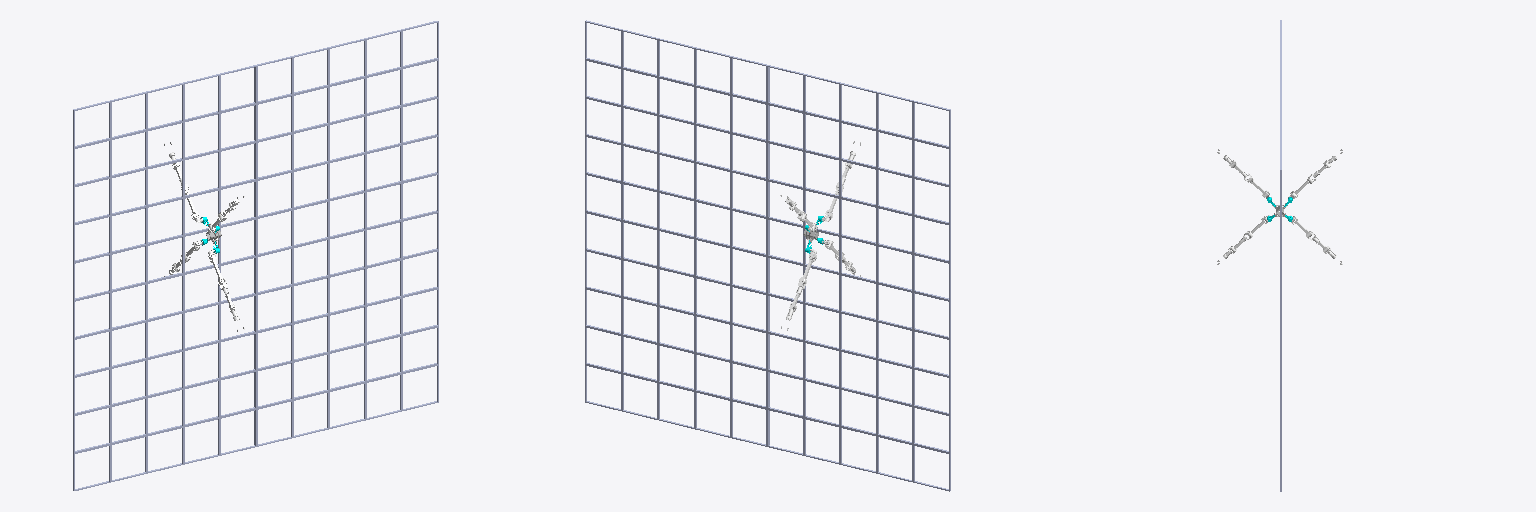
--- Facts derived from the render (not from the file) ---
3 views of the same robot in one strip: view 1: azimuth 30°, elevation 25°; view 2: azimuth 150°, elevation 25°; view 3: azimuth 270°, elevation 25° (orthographic).
Model robot_description with 89 links and 88 joints (56 revolute, 1 prismatic, 31 fixed), rooted at world, posed every joint at zero.
Visible links, largest first — view 1: truss_link; view 2: truss_link; view 3: truss_link.
Boxes of the visible links, left/top/right/bottom form: truss_link: left=73, top=21, right=438, bottom=490; truss_link: left=585, top=20, right=950, bottom=491; truss_link: left=1280, top=20, right=1281, bottom=491.
Size in the robot's own frame: 5.3 by 1.88 by 5.3 metres.
35 mesh visuals loaded from 16 distinct referenced files (11 binary STL); not drawn: 36 (reference not matched to a file when rendering).

The robot description file, URDF, robot "robot_description":
<?xml version="1.0" ?>
<!-- =================================================================================== -->
<!-- |    This document was autogenerated by xacro from robot_description.xacro        | -->
<!-- |    EDITING THIS FILE BY HAND IS NOT RECOMMENDED                                 | -->
<!-- =================================================================================== -->
<!-- This URDF was automatically created by SolidWorks to URDF Exporter! Originally created by Stephen Brawner ([email redacted]) 
     Commit Version: 1.6.0-1-g15f4949  Build Version: 1.6.7594.29634
     For more information, please see http://wiki.ros.org/sw_urdf_exporter -->
<robot name="robot_description">
    <!--body*********************************************************************************************************-->
    <link name="world" />
    <joint name="world_joint" type="fixed">
        <parent link="world" />
        <child link="base_link" />
        <origin rpy="0 1.5708 0" xyz="0 0 0.45" />
    </joint>
    <link name="base_link">
        <inertial>
            <origin rpy="0 0 0" xyz="0 0 0.042" />
            <mass value="1.492" />
            <inertia ixx="0.004886486" ixy="-0.000017397" ixz="-0.000263075" iyy="0.004100237" iyz="0" izz="0.003937989" />
        </inertial>
        <visual>
            <origin rpy="0 0 0" xyz="0 0 0" />
            <geometry>
                <mesh filename="package://robot_description/meshes/base_link.STL" />
            </geometry>
            <material name="">
                <color rgba="0.75294 0.75294 0.75294 1" />
            </material>
        </visual>
        <collision>
            <origin rpy="0 0 0" xyz="0 0 0" />
            <geometry>
                <mesh filename="package://robot_description/meshes/base_link.STL" />
            </geometry>
            <surface>
                <friction>
                    <torsional>
                        <coefficient>5.0</coefficient>
                        <surface_radius>0.10</surface_radius>
                        <use_patch_radius>false</use_patch_radius>
                    </torsional>
                </friction>
            </surface>
        </collision>
    </link>
    <joint name="world_to_truss_link" type="fixed">
        <parent link="world" />
        <child link="truss_link" />
        <origin rpy="1.5708 0 3.1415" xyz="0.6625 0 0" />
    </joint>
    <link name="truss_link">
        <inertial>
            <origin rpy="0 0 0" xyz="0.36747875296263 -0.0267703008644749 2.17639122268576E-06" />
            <mass value="21.7746312239973" />
            <inertia ixx="6.13854571738268" ixy="0.0126716758688149" ixz="-0.000126373819517297" iyy="16.7375552194284" iyz="-1.43555608026521E-06" izz="10.6624119014708" />
        </inertial>
        <visual>
            <origin rpy="0 0 0" xyz="0 0 0" />
            <geometry>
                <mesh filename="package://robot_description/meshes/truss_link.STL" />
            </geometry>
            <material name="">
                <color rgba="0.792156862745098 0.819607843137255 0.933333333333333 1" />
            </material>
        </visual>
        <collision>
            <origin rpy="0 0 0" xyz="0 0 0" />
            <geometry>
                <mesh filename="package://robot_description/meshes/truss_link.STL" />
            </geometry>
        </collision>
    </link>
    <link name="dummy_point1" />
    <joint name="truss_link_to_point1" type="fixed">
        <parent link="truss_link" />
        <child link="dummy_point1" />
        <origin rpy="1.5708 0 0" xyz="0.795 0 0.53" />
    </joint>
    <link name="dummy_point2" />
    <joint name="truss_link_to_point2" type="fixed">
        <parent link="truss_link" />
        <child link="dummy_point2" />
        <origin rpy="1.5708 0 0" xyz="0.795 0 -0.53" />
    </joint>
    <link name="dummy_point3" />
    <joint name="truss_link_to_point3" type="fixed">
        <parent link="truss_link" />
        <child link="dummy_point3" />
        <origin rpy="1.5708 0.707 0" xyz="0.08 0.18 0.40" />
    </joint>
    <link name="dummy_point4" />
    <joint name="truss_link_to_point4" type="fixed">
        <parent link="truss_link" />
        <child link="dummy_point4" />
        <origin rpy="0 0 0" xyz="0 0.215 -0.3" />
    </joint>
    <link name="object" />
    <joint name="truss_link_to_obj" type="fixed">
        <parent link="truss_link" />
        <child link="object" />
        <origin rpy="1.5708 0.707 0" xyz="0.08 0.03 0.40" />
    </joint>
    <link name="object1" />
    <joint name="truss_link_to_obj1" type="fixed">
        <parent link="truss_link" />
        <child link="object1" />
        <origin rpy="0 3.1416 0" xyz="-0.1 0.215 0.085" />
    </joint>
    <link name="object2" />
    <joint name="truss_link_to_obj2" type="fixed">
        <parent link="truss_link" />
        <child link="object2" />
        <origin rpy="0 0 -1.5708" xyz="-0.265 0.215 -0.35" />
    </joint>
    <link name="cube_l" />
    <joint name="truss_link_to_cube_l" type="fixed">
        <parent link="truss_link" />
        <child link="cube_l" />
        <origin rpy="0 3.1416 0" xyz="-0.1175 0.12 0.2325" />
    </joint>
    <link name="cube_r" />
    <joint name="truss_link_to_cube_r" type="fixed">
        <parent link="truss_link" />
        <child link="cube_r" />
        <origin rpy="0 0 0" xyz="-0.1175 0.12 -0.2325" />
    </joint>
    <link name="Link_platform">
        <inertial>
            <origin rpy="0 0 0" xyz="0 0 0.011605" />
            <mass value="0.218" />
            <inertia ixx="0.000745872" ixy="0" ixz="0" iyy="0.000792081" iyz="0" izz="0.001494320" />
        </inertial>
        <visual>
            <origin rpy="0 0 0" xyz="0 0 0" />
            <geometry>
                <mesh filename="package://robot_description/meshes/Link_platform.STL" />
            </geometry>
            <material name="">
                <color rgba="0.75294 0.75294 0.75294 1" />
            </material>
        </visual>
        <collision>
            <origin rpy="0 0 0" xyz="0 0 0" />
            <geometry>
                <mesh filename="package://robot_description/meshes/Link_platform.STL" />
            </geometry>
        </collision>
    </link>
    <joint name="Joint_platform" type="prismatic">
        <origin rpy="0 0 0" xyz="0 0 0.043397" />
        <parent link="base_link" />
        <child link="Link_platform" />
        <axis xyz="0 0 1" />
        <dynamics damping="0.1" friction="0.8" />
        <limit effort="1000" lower="0" upper="0.5" velocity="10" />
    </joint>
    <link name="Link1_0">
        <inertial>
            <origin rpy="0 0 0" xyz="0.085427 -0.025518 0" />
            <mass value="0.960" />
            <inertia ixx="0.000648473" ixy="-0.001018876" ixz="0.000012959" iyy="0.002674366" iyz="0" izz="0.003031056" />
        </inertial>
        <visual>
            <origin rpy="0 0 0" xyz="0 0 0" />
            <geometry>
                <mesh filename="package://robot_description/meshes/Link_0.STL" />
            </geometry>
            <material name="">
                <color rgba="0 1 1 1" />
            </material>
        </visual>
        <collision>
            <origin rpy="0 0 0" xyz="0 0 0" />
            <geometry>
                <mesh filename="package://robot_description/meshes/Link_0.STL" />
            </geometry>
        </collision>
    </link>
    <joint name="Joint1_0" type="revolute">
        <origin rpy="1.5707963267948966 0 0.7853981633974483" xyz="0.072125 0.072125 0.018" />
        <parent link="base_link" />
        <child link="Link1_0" />
        <axis xyz="0 0 1" />
        <dynamics damping="0.1" friction="0.8" />
        <limit effort="1000" lower="0" upper="1.5707963267948966" velocity="10" />
    </joint>
    <link name="Link1_1">
        <inertial>
            <origin rpy="0 0 0" xyz="0.052469 -0.009040 0.002060" />
            <mass value="0.914" />
            <inertia ixx="0.000671687" ixy="-0.000084224" ixz="-0.000107815" iyy="0.000786758" iyz="0.000017298" izz="0.000958254" />
        </inertial>
        <visual>
            <origin rpy="0 0 0" xyz="0 0 0" />
            <geometry>
                <mesh filename="package://robot_description/meshes/Link_1.STL" />
            </geometry>
            <material name="">
                <color rgba="1 1 1 1" />
            </material>
        </visual>
        <collision>
            <origin rpy="0 0 0" xyz="0 0 0" />
            <geometry>
                <mesh filename="package://robot_description/meshes/Link_1.STL" />
            </geometry>
        </collision>
    </link>
    <joint name="Joint1_1" type="revolute">
        <origin rpy="-1.5707963267948966 0 0" xyz="0.12 -0.117 0" />
        <parent link="Link1_0" />
        <child link="Link1_1" />
        <axis xyz="0 0 1" />
        <dynamics damping="0.1" friction="0.8" />
        <limit effort="300" lower="-2.356194490192345" upper="4.71238898038469" velocity="10" />
    </joint>
    <link name="Link1_2">
        <inertial>
            <origin rpy="0 0 0" xyz="0.273270 0.000006 0.007530" />
            <mass value="1.144" />
            <inertia ixx="0.000909959" ixy="0" ixz="0.000569994" iyy="0.018834040" iyz="0" izz="0.018336908" />
        </inertial>
        <visual>
            <origin rpy="0 0 0" xyz="0 0 0" />
            <geometry>
                <mesh filename="package://robot_description/meshes/Link_2.STL" />
            </geometry>
            <material name="">
                <color rgba="1 1 1 1" />
            </material>
        </visual>
        <collision>
            <origin rpy="0 0 0" xyz="0 0 0" />
            <geometry>
                <mesh filename="package://robot_description/meshes/Link_2.STL" />
            </geometry>
        </collision>
    </link>
    <joint name="Joint1_2" type="revolute">
        <origin rpy="1.5707963267948966 0 0" xyz="0.0625 -0.0025 0" />
        <parent link="Link1_1" />
        <child link="Link1_2" />
        <axis xyz="0 0 1" />
        <dynamics damping="0.1" friction="0.8" />
        <limit effort="300" lower="-2.0943951023931953" upper="1.5707963267948966" velocity="10" />
    </joint>
    <link name="Link1_3">
        <inertial>
            <origin rpy="0 0 0" xyz="0.081336 -0.0003 -0.000693" />
            <mass value="0.395" />
            <inertia ixx="0.000576423" ixy="0" ixz="0.000031283" iyy="0.001662107" iyz="0" izz="0.001334389" />
        </inertial>
        <visual>
            <origin rpy="0 0 0" xyz="0 0 0" />
            <geometry>
                <mesh filename="package://robot_description/meshes/Link_3.STL" />
            </geometry>
            <material name="">
                <color rgba="1 1 1 1" />
            </material>
        </visual>
        <collision>
            <origin rpy="0 0 0" xyz="0 0 0" />
            <geometry>
                <mesh filename="package://robot_description/meshes/Link_3.STL" />
            </geometry>
        </collision>
    </link>
    <joint name="Joint1_3" type="revolute">
        <origin rpy="-3.141592653589793 0 0" xyz="0.35 0.0002 0" />
        <parent link="Link1_2" />
        <child link="Link1_3" />
        <axis xyz="0 0 1" />
        <dynamics damping="0.1" friction="0.8" />
        <limit effort="300" lower="-2.530727415391778" upper="2.530727415391778" velocity="10" />
    </joint>
    <link name="Link1_4">
        <inertial>
            <origin rpy="0 0 0" xyz="0.005438 0.000120 0.134002" />
            <mass value="0.376" />
            <inertia ixx="0.0001484574" ixy="0" ixz="0.000099045" iyy="0.001658464" iyz="-0.000002871" izz="0.000360737" />
        </inertial>
        <visual>
            <origin rpy="0 0 0" xyz="0 0 0" />
            <geometry>
                <mesh filename="package://robot_description/meshes/Link_4.STL" />
            </geometry>
            <material name="">
                <color rgba="1 1 1 1" />
            </material>
        </visual>
        <collision>
            <origin rpy="0 0 0" xyz="0 0 0" />
            <geometry>
                <mesh filename="package://robot_description/meshes/Link_4.STL" />
            </geometry>
        </collision>
    </link>
    <joint name="Joint1_4" type="revolute">
        <origin rpy="0 -1.5707963267948966 -3.141592653589793" xyz="0.1745 0 0" />
        <parent link="Link1_3" />
        <child link="Link1_4" />
        <axis xyz="0 0 1" />
        <dynamics damping="0.1" friction="0.8" />
        <limit effort="100" lower="-3.141592653589793" upper="3.141592653589793" velocity="10" />
    </joint>
    <link name="Link1_5">
        <inertial>
            <origin rpy="0 0 0" xyz="0.058277 0 -0.001068" />
            <mass value="0.327" />
            <inertia ixx="0.000412080" ixy="0" ixz="0.000002889" iyy="0.000943104" iyz="0" izz="0.000708641" />
        </inertial>
        <visual>
            <origin rpy="0 0 0" xyz="0 0 0" />
            <geometry>
                <mesh filename="package://robot_description/meshes/Link_5.STL" />
            </geometry>
            <material name="">
                <color rgba="1 1 1 1" />
            </material>
        </visual>
        <collision>
            <origin rpy="0 0 0" xyz="0 0 0" />
            <geometry>
                <mesh filename="package://robot_description/meshes/Link_5.STL" />
            </geometry>
        </collision>
    </link>
    <joint name="Joint1_5" type="revolute">
        <origin rpy="3.141592653589793 -1.5707963267948966 0" xyz="0 0 0.1795" />
        <parent link="Link1_4" />
        <child link="Link1_5" />
        <axis xyz="0 0 1" />
        <dynamics damping="0.1" friction="0.8" />
        <limit effort="100" lower="-1.9198621771937623" upper="1.9198621771937623" velocity="10" />
    </joint>
    <link name="Link1_6">
        <inertial>
            <origin rpy="0 0 0" xyz="-0.000076 -0.001467 0.088450" />
            <mass value="0.366" />
            <inertia ixx="0.000945510" ixy="-0.000011196" ixz="0" iyy="0.000811306" iyz="-0.000011704" izz="0.000402389" />
        </inertial>
        <visual>
            <origin rpy="0 0 0" xyz="0 0 0" />
            <geometry>
                <mesh filename="package://robot_description/meshes/Link_6.STL" />
            </geometry>
            <material name="">
                <color rgba="1 1 1 1" />
            </material>
        </visual>
        <collision>
            <origin rpy="0 0 0" xyz="0 0 0" />
            <geometry>
                <mesh filename="package://robot_description/meshes/Link_6.STL" />
            </geometry>
        </collision>
    </link>
    <joint name="Joint1_6" type="revolute">
        <origin rpy="3.141592653589793 -1.5707963267948966 0" xyz="0.141 0 0" />
        <parent link="Link1_5" />
        <child link="Link1_6" />
        <axis xyz="0 0 1" />
        <dynamics damping="0.1" friction="0.8" />
        <limit effort="100" lower="-3.141592653589793" upper="3.141592653589793" velocity="10" />
    </joint>
    <joint name="Joint1_hand" type="fixed">
        <parent link="Link1_6" />
        <child link="Link1_robotiq_arg2f_base_link" />
        <origin rpy="0 0 0" xyz="0 0 0.0385" />
    </joint>
    <transmission name="Link1_finger_joint_trans">
        <type>transmission_interface/SimpleTransmission</type>
        <joint name="Link1_finger_joint">
            <hardwareInterface>hardware_interface/EffortJointInterface</hardwareInterface>
        </joint>
        <actuator name="Link1_finger_joint_motor">
            <mechanicalReduction>1</mechanicalReduction>
            <hardwareInterface>hardware_interface/EffortJointInterface</hardwareInterface>
        </actuator>
    </transmission>
    <!-- base link -->
    <link name="Link1_robotiq_arg2f_base_link">
        <inertial>
            <origin rpy="0 0 0" xyz="8.625E-08 -4.6583E-06 0.03145" />
            <mass value="0.22652" />
            <inertia ixx="0.00020005" ixy="-4.2442E-10" ixz="-2.9069E-10" iyy="0.00017832" iyz="-3.4402E-08" izz="0.00013478" />
        </inertial>
        <visual>
            <origin rpy="0 0 0" xyz="0 0 0" />
            <geometry>
                <mesh filename="package://robotiq_2f_85_gripper_visualization/meshes/visual/robotiq_arg2f_base_link.stl" />
            </geometry>
            <material name="">
                <color rgba="0.1 0.1 0.1 1" />
            </material>
        </visual>
        <collision>
            <origin rpy="0 0 0" xyz="0 0 0" />
            <!-- <geometry><sphere radius="0.04" /></geometry> -->
            <geometry>
                <mesh filename="package://robotiq_2f_85_gripper_visualization/meshes/collision/robotiq_arg2f_base_link.stl" />
            </geometry>
            <surface>
                <friction>
                    <torsional>
                        <coefficient>5.0</coefficient>
                        <surface_radius>0.01</surface_radius>
                        <use_patch_radius>false</use_patch_radius>
                    </torsional>
                </friction>
            </surface>
        </collision>
    </link>
    <link name="Link1_left_outer_knuckle">
        <inertial>
            <origin rpy="0 0 0" xyz="-0.000200000000003065 0.0199435877845359 0.0292245259211331" />
            <mass value="0.00853198276973456" />
            <inertia ixx="2.89328108496468E-06" ixy="-1.57935047237397E-19" ixz="-1.93980378593255E-19" iyy="1.86719750325683E-06" iyz="-1.21858577871576E-06" izz="1.21905238907251E-06" />
        </inertial>
        <visual>
            <origin rpy="0 0 0" xyz="0 0 0" />
            <geometry>
                <mesh filename="package://robotiq_2f_85_gripper_visualization/meshes/visual/robotiq_arg2f_85_outer_knuckle.dae" scale="0.001 0.001 0.001" />
            </geometry>
            <material name="">
                <color rgba="0.792156862745098 0.819607843137255 0.933333333333333 1" />
            </material>
        </visual>
        <collision>
            <origin rpy="0 0 0" xyz="0 0 0" />
            <geometry>
                <mesh filename="package://robotiq_2f_85_gripper_visualization/meshes/collision/robotiq_arg2f_85_outer_knuckle.dae" scale="0.001 0.001 0.001" />
            </geometry>
        </collision>
    </link>
    <link name="Link1_left_outer_finger">
        <inertial>
            <origin rpy="0 0 0" xyz="0.00030115855001899 0.0373907951953854 -0.0208027427000385" />
            <mass value="0.022614240507152" />
            <inertia ixx="1.52518312458174E-05" ixy="9.76583423954399E-10" ixz="-5.43838577022588E-10" iyy="6.17694243867776E-06" iyz="6.78636130740228E-06" izz="1.16494917907219E-05" />
        </inertial>
        <visual>
            <origin rpy="0 0 0" xyz="0 0 0" />
            <geometry>
                <mesh filename="package://robotiq_2f_85_gripper_visualization/meshes/visual/robotiq_arg2f_85_outer_finger.dae" scale="0.001 0.001 0.001" />
            </geometry>
            <material name="">
                <color rgba="0.1 0.1 0.1 1" />
            </material>
        </visual>
        <collision>
            <origin rpy="0 0 0" xyz="0 0 0" />
            <geometry>
                <mesh filename="package://robotiq_2f_85_gripper_visualization/meshes/collision/robotiq_arg2f_85_outer_finger.dae" scale="0.001 0.001 0.001" />
            </geometry>
        </collision>
    </link>
    <link name="Link1_left_inner_finger">
        <inertial>
            <origin rpy="0 0 0" xyz="0.000299999999999317 0.0160078233491243 -0.0136945669206257" />
            <mass value="0.0104003125914103" />
            <inertia ixx="2.71909453810972E-06" ixy="1.35402465472579E-21" ixz="-7.1817349065269E-22" iyy="7.69100314106116E-07" iyz="6.74715432769696E-07" izz="2.30315190420171E-06" />
        </inertial>
        <visual>
            <origin rpy="0 0 0" xyz="0 0 0" />
            <geometry>
                <mesh filename="package://robotiq_2f_85_gripper_visualization/meshes/visual/robotiq_arg2f_85_inner_finger.dae" scale="0.001 0.001 0.001" />
            </geometry>
            <material name="">
                <color rgba="0.1 0.1 0.1 1" />
            </material>
        </visual>
        <collision>
            <origin rpy="0 0 0" xyz="0 0 0" />
            <geometry>
                <mesh filename="package://robotiq_2f_85_gripper_visualization/meshes/collision/robotiq_arg2f_85_inner_finger.dae" scale="0.001 0.001 0.001" />
            </geometry>
        </collision>
    </link>
    <link name="Link1_left_inner_finger_pad">
        <visual>
            <origin rpy="0 0 0" xyz="0 0 0" />
            <geometry>
                <box size="0.022 0.00635 0.0375" />
            </geometry>
            <material name="">
                <color rgba="0.9 0.9 0.9 1" />
            </material>
        </visual>
        <collision>
            <origin rpy="0 0 0" xyz="0 0 0" />
            <geometry>
                <box size="0.022 0.00635 0.0375" />
            </geometry>
            <material name="">
                <color rgba="0.9 0.0 0.0 1" />
            </material>
        </collision>
        <inertial>
            <mass value="0.1" />
            <origin xyz="0 0 0" rpy="0 0 0" />
            <inertia ixx="0.03" iyy="0.03" izz="0.03" ixy="0.0" ixz="0.0" iyz="0.0" />
        </inertial>
    </link>
    <link name="Link1_left_inner_knuckle">
        <inertial>
            <origin rpy="0 0 0" xyz="0.000123011831763771 0.0507850843201817 0.00103968640075166" />
            <mass value="0.0271177346495152" />
            <inertia ixx="2.61910379223783E-05" ixy="-2.43616858946494E-07" ixz="-6.37789906117123E-09" iyy="2.8270243746167E-06" iyz="-5.37200748039765E-07" izz="2.83695868220296E-05" />
        </inertial>
        <visual>
            <origin rpy="0 0 0" xyz="0 0 0" />
            <geometry>
                <mesh filename="package://robotiq_2f_85_gripper_visualization/meshes/visual/robotiq_arg2f_85_inner_knuckle.dae" scale="0.001 0.001 0.001" />
            </geometry>
            <material name="">
                <color rgba="0.1 0.1 0.1 1" />
            </material>
        </visual>
        <collision>
            <origin rpy="0 0 0" xyz="0 0 0" />
            <geometry>
                <mesh filename="package://robotiq_2f_85_gripper_visualization/meshes/collision/robotiq_arg2f_85_inner_knuckle.dae" scale="0.001 0.001 0.001" />
            </geometry>
        </collision>
    </link>
    <joint name="Link1_left_outer_finger_joint" type="fixed">
        <origin rpy="0 0 0" xyz="0 0.0315 -0.0041" />
        <parent link="Link1_left_outer_knuckle" />
        <child link="Link1_left_outer_finger" />
        <axis xyz="1 0 0" />
    </joint>
    <joint name="Link1_left_inner_knuckle_joint" type="revolute">
        <!-- <origin xyz="0 ${reflect * -0.0127} 0.06142" rpy="${pi / 2 + .725} 0 ${(reflect - 1) * pi / 2}" /> -->
        <origin rpy="0 0 3.141592653589793" xyz="0 -0.0127 0.06142" />
        <parent link="Link1_robotiq_arg2f_base_link" />
        <child link="Link1_left_inner_knuckle" />
        <axis xyz="1 0 0" />
        <limit effort="1000" lower="0" upper="0.8757" velocity="0.5" />
        <mimic joint="Link1_finger_joint" multiplier="1" offset="0" />
    </joint>
    <joint name="Link1_left_inner_finger_joint" type="revolute">
        <origin rpy="0 0 0" xyz="0 0.0061 0.0471" />
        <parent link="Link1_left_outer_finger" />
        <child link="Link1_left_inner_finger" />
        <axis xyz="1 0 0" />
        <limit effort="1000" lower="-0.8757" upper="0" velocity="0.5" />
        <mimic joint="Link1_finger_joint" multiplier="-1" offset="0" />
    </joint>
    <joint name="Link1_left_inner_finger_pad_joint" type="fixed">
        <origin rpy="0 0 0" xyz="0 -0.0220203446692936 0.03242" />
        <parent link="Link1_left_inner_finger" />
        <child link="Link1_left_inner_finger_pad" />
        <axis xyz="0 0 1" />
    </joint>
    <joint name="Link1_finger_joint" type="revolute">
        <origin rpy="0 0 3.141592653589793" xyz="0 -0.0306011 0.054904" />
        <parent link="Link1_robotiq_arg2f_base_link" />
        <child link="Link1_left_outer_knuckle" />
        <axis xyz="1 0 0" />
        <limit effort="1000" lower="0" upper="0.8" velocity="0.5" />
    </joint>
    <joint name="Link1_right_outer_finger_joint" type="fixed">
        <origin rpy="0 0 0" xyz="0 0.0315 -0.0041" />
        <parent link="Link1_right_outer_knuckle" />
        <child link="Link1_right_outer_finger" />
        <axis xyz="1 0 0" />
    </joint>
    <joint name="Link1_right_inner_knuckle_joint" type="revolute">
        <!-- <origin xyz="0 ${reflect * -0.0127} 0.06142" rpy="${pi / 2 + .725} 0 ${(reflect - 1) * pi / 2}" /> -->
        <origin rpy="0 0 0.0" xyz="0 0.0127 0.06142" />
        <parent link="Link1_robotiq_arg2f_base_link" />
        <child link="Link1_right_inner_knuckle" />
        <axis xyz="1 0 0" />
        <limit effort="1000" lower="0" upper="0.8757" velocity="0.5" />
        <mimic joint="Link1_finger_joint" multiplier="1" offset="0" />
    </joint>
    <joint name="Link1_right_inner_finger_joint" type="revolute">
        <origin rpy="0 0 0" xyz="0 0.0061 0.0471" />
        <parent link="Link1_right_outer_finger" />
        <child link="Link1_right_inner_finger" />
        <axis xyz="1 0 0" />
        <limit effort="1000" lower="-0.8757" upper="0" velocity="0.5" />
        <mimic joint="Link1_finger_joint" multiplier="-1" offset="0" />
    </joint>
    <joint name="Link1_right_inner_finger_pad_joint" type="fixed">
        <origin rpy="0 0 0" xyz="0 -0.0220203446692936 0.03242" />
        <parent link="Link1_right_inner_finger" />
        <child link="Link1_right_inner_finger_pad" />
        <axis xyz="0 0 1" />
    </joint>
    <link name="Link1_right_outer_knuckle">
        <inertial>
            <origin rpy="0 0 0" xyz="-0.000200000000003065 0.0199435877845359 0.0292245259211331" />
            <mass value="0.00853198276973456" />
            <inertia ixx="2.89328108496468E-06" ixy="-1.57935047237397E-19" ixz="-1.93980378593255E-19" iyy="1.86719750325683E-06" iyz="-1.21858577871576E-06" izz="1.21905238907251E-06" />
        </inertial>
        <visual>
            <origin rpy="0 0 0" xyz="0 0 0" />
            <geometry>
                <mesh filename="package://robotiq_2f_85_gripper_visualization/meshes/visual/robotiq_arg2f_85_outer_knuckle.dae" scale="0.001 0.001 0.001" />
            </geometry>
            <material name="">
                <color rgba="0.792156862745098 0.819607843137255 0.933333333333333 1" />
            </material>
        </visual>
        <collision>
            <origin rpy="0 0 0" xyz="0 0 0" />
            <geometry>
                <mesh filename="package://robotiq_2f_85_gripper_visualization/meshes/collision/robotiq_arg2f_85_outer_knuckle.dae" scale="0.001 0.001 0.001" />
            </geometry>
        </collision>
    </link>
    <link name="Link1_right_outer_finger">
        <inertial>
            <origin rpy="0 0 0" xyz="0.00030115855001899 0.0373907951953854 -0.0208027427000385" />
            <mass value="0.022614240507152" />
            <inertia ixx="1.52518312458174E-05" ixy="9.76583423954399E-10" ixz="-5.43838577022588E-10" iyy="6.17694243867776E-06" iyz="6.78636130740228E-06" izz="1.16494917907219E-05" />
        </inertial>
        <visual>
            <origin rpy="0 0 0" xyz="0 0 0" />
            <geometry>
                <mesh filename="package://robotiq_2f_85_gripper_visualization/meshes/visual/robotiq_arg2f_85_outer_finger.dae" scale="0.001 0.001 0.001" />
            </geometry>
            <material name="">
                <color rgba="0.1 0.1 0.1 1" />
            </material>
        </visual>
        <collision>
            <origin rpy="0 0 0" xyz="0 0 0" />
            <geometry>
                <mesh filename="package://robotiq_2f_85_gripper_visualization/meshes/collision/robotiq_arg2f_85_outer_finger.dae" scale="0.001 0.001 0.001" />
            </geometry>
        </collision>
    </link>
    <link name="Link1_right_inner_finger">
        <inertial>
            <origin rpy="0 0 0" xyz="0.000299999999999317 0.0160078233491243 -0.0136945669206257" />
            <mass value="0.0104003125914103" />
            <inertia ixx="2.71909453810972E-06" ixy="1.35402465472579E-21" ixz="-7.1817349065269E-22" iyy="7.69100314106116E-07" iyz="6.74715432769696E-07" izz="2.30315190420171E-06" />
        </inertial>
        <visual>
            <origin rpy="0 0 0" xyz="0 0 0" />
            <geometry>
                <mesh filename="package://robotiq_2f_85_gripper_visualization/meshes/visual/robotiq_arg2f_85_inner_finger.dae" scale="0.001 0.001 0.001" />
            </geometry>
            <material name="">
                <color rgba="0.1 0.1 0.1 1" />
            </material>
        </visual>
        <collision>
            <origin rpy="0 0 0" xyz="0 0 0" />
            <geometry>
                <mesh filename="package://robotiq_2f_85_gripper_visualization/meshes/collision/robotiq_arg2f_85_inner_finger.dae" scale="0.001 0.001 0.001" />
            </geometry>
        </collision>
    </link>
    <link name="Link1_right_inner_finger_pad">
        <visual>
            <origin rpy="0 0 0" xyz="0 0 0" />
            <geometry>
                <box size="0.022 0.00635 0.0375" />
            </geometry>
            <material name="">
                <color rgba="0.9 0.9 0.9 1" />
            </material>
        </visual>
        <collision>
            <origin rpy="0 0 0" xyz="0 0 0" />
            <geometry>
                <box size="0.022 0.00635 0.0375" />
            </geometry>
            <material name="">
                <color rgba="0.9 0.0 0.0 1" />
            </material>
        </collision>
        <inertial>
            <mass value="0.1" />
            <origin xyz="0 0 0" rpy="0 0 0" />
            <inertia ixx="0.03" iyy="0.03" izz="0.03" ixy="0.0" ixz="0.0" iyz="0.0" />
        </inertial>
    </link>
    <link name="Link1_right_inner_knuckle">
        <inertial>
            <origin rpy="0 0 0" xyz="0.000123011831763771 0.0507850843201817 0.00103968640075166" />
            <mass value="0.0271177346495152" />
            <inertia ixx="2.61910379223783E-05" ixy="-2.43616858946494E-07" ixz="-6.37789906117123E-09" iyy="2.8270243746167E-06" iyz="-5.37200748039765E-07" izz="2.83695868220296E-05" />
        </inertial>
        <visual>
            <origin rpy="0 0 0" xyz="0 0 0" />
            <geometry>
                <mesh filename="package://robotiq_2f_85_gripper_visualization/meshes/visual/robotiq_arg2f_85_inner_knuckle.dae" scale="0.001 0.001 0.001" />
            </geometry>
            <material name="">
                <color rgba="0.1 0.1 0.1 1" />
            </material>
        </visual>
        <collision>
            <origin rpy="0 0 0" xyz="0 0 0" />
            <geometry>
                <mesh filename="package://robotiq_2f_85_gripper_visualization/meshes/collision/robotiq_arg2f_85_inner_knuckle.dae" scale="0.001 0.001 0.001" />
            </geometry>
        </collision>
    </link>
    <joint name="Link1_right_finger_joint" type="revolute">
        <origin rpy="0 0 0" xyz="0 0.0306011 0.054904" />
        <parent link="Link1_robotiq_arg2f_base_link" />
        <child link="Link1_right_outer_knuckle" />
        <axis xyz="1 0 0" />
        <limit effort="1000" lower="0" upper="0.81" velocity="0.5" />
        <mimic joint="Link1_finger_joint" multiplier="1" offset="0" />
    </joint>
    <link name="Link2_0">
        <inertial>
            <origin rpy="0 0 0" xyz="0.085427 -0.025518 0" />
            <mass value="0.960" />
            <inertia ixx="0.000648473" ixy="-0.001018876" ixz="0.000012959" iyy="0.002674366" iyz="0" izz="0.003031056" />
        </inertial>
        <visual>
            <origin rpy="0 0 0" xyz="0 0 0" />
            <geometry>
                <mesh filename="package://robot_description/meshes/Link_0.STL" />
            </geometry>
            <material name="">
                <color rgba="0 1 1 1" />
            </material>
        </visual>
        <collision>
            <origin rpy="0 0 0" xyz="0 0 0" />
            <geometry>
                <mesh filename="package://robot_description/meshes/Link_0.STL" />
            </geometry>
        </collision>
    </link>
    <joint name="Joint2_0" type="revolute">
        <origin rpy="1.5707963267948966 0 2.356194490192345" xyz="-0.072125 0.072125 0.018" />
        <parent link="base_link" />
        <child link="Link2_0" />
        <axis xyz="0 0 1" />
        <dynamics damping="0.1" friction="0.8" />
        <limit effort="1000" lower="0" upper="1.5707963267948966" velocity="10" />
    </joint>
    <link name="Link2_1">
        <inertial>
            <origin rpy="0 0 0" xyz="0.052469 -0.009040 0.002060" />
            <mass value="0.914" />
            <inertia ixx="0.000671687" ixy="-0.000084224" ixz="-0.000107815" iyy="0.000786758" iyz="0.000017298" izz="0.000958254" />
        </inertial>
        <visual>
            <origin rpy="0 0 0" xyz="0 0 0" />
            <geometry>
                <mesh filename="package://robot_description/meshes/Link_1.STL" />
            </geometry>
            <material name="">
                <color rgba="1 1 1 1" />
            </material>
        </visual>
        <collision>
            <origin rpy="0 0 0" xyz="0 0 0" />
            <geometry>
                <mesh filename="package://robot_description/meshes/Link_1.STL" />
            </geometry>
        </collision>
    </link>
    <joint name="Joint2_1" type="revolute">
        <origin rpy="-1.5707963267948966 0 0" xyz="0.12 -0.117 0" />
        <parent link="Link2_0" />
        <child link="Link2_1" />
        <axis xyz="0 0 1" />
        <dynamics damping="0.1" friction="0.8" />
        <limit effort="300" lower="-2.356194490192345" upper="4.71238898038469" velocity="10" />
    </joint>
    <link name="Link2_2">
        <inertial>
            <origin rpy="0 0 0" xyz="0.273270 0.000006 0.007530" />
            <mass value="1.144" />
            <inertia ixx="0.000909959" ixy="0" ixz="0.000569994" iyy="0.018834040" iyz="0" izz="0.018336908" />
        </inertial>
        <visual>
            <origin rpy="0 0 0" xyz="0 0 0" />
            <geometry>
                <mesh filename="package://robot_description/meshes/Link_2.STL" />
            </geometry>
            <material name="">
                <color rgba="1 1 1 1" />
            </material>
        </visual>
        <collision>
            <origin rpy="0 0 0" xyz="0 0 0" />
            <geometry>
                <mesh filename="package://robot_description/meshes/Link_2.STL" />
            </geometry>
        </collision>
    </link>
    <joint name="Joint2_2" type="revolute">
        <origin rpy="1.5707963267948966 0 0" xyz="0.0625 -0.0025 0" />
        <parent link="Link2_1" />
        <child link="Link2_2" />
        <axis xyz="0 0 1" />
        <dynamics damping="0.1" friction="0.8" />
        <limit effort="300" lower="-2.0943951023931953" upper="1.5707963267948966" velocity="10" />
    </joint>
    <link name="Link2_3">
        <inertial>
            <origin rpy="0 0 0" xyz="0.081336 -0.0003 -0.000693" />
            <mass value="0.395" />
            <inertia ixx="0.000576423" ixy="0" ixz="0.000031283" iyy="0.001662107" iyz="0" izz="0.001334389" />
        </inertial>
        <visual>
            <origin rpy="0 0 0" xyz="0 0 0" />
            <geometry>
                <mesh filename="package://robot_description/meshes/Link_3.STL" />
            </geometry>
            <material name="">
                <color rgba="1 1 1 1" />
            </material>
        </visual>
        <collision>
            <origin rpy="0 0 0" xyz="0 0 0" />
            <geometry>
                <mesh filename="package://robot_description/meshes/Link_3.STL" />
            </geometry>
        </collision>
    </link>
    <joint name="Joint2_3" type="revolute">
        <origin rpy="-3.141592653589793 0 0" xyz="0.35 0.0002 0" />
        <parent link="Link2_2" />
        <child link="Link2_3" />
        <axis xyz="0 0 1" />
        <dynamics damping="0.1" friction="0.8" />
        <limit effort="300" lower="-2.530727415391778" upper="2.530727415391778" velocity="10" />
    </joint>
    <link name="Link2_4">
        <inertial>
            <origin rpy="0 0 0" xyz="0.005438 0.000120 0.134002" />
            <mass value="0.376" />
            <inertia ixx="0.0001484574" ixy="0" ixz="0.000099045" iyy="0.001658464" iyz="-0.000002871" izz="0.000360737" />
        </inertial>
        <visual>
            <origin rpy="0 0 0" xyz="0 0 0" />
            <geometry>
                <mesh filename="package://robot_description/meshes/Link_4.STL" />
            </geometry>
            <material name="">
                <color rgba="1 1 1 1" />
            </material>
        </visual>
        <collision>
            <origin rpy="0 0 0" xyz="0 0 0" />
            <geometry>
                <mesh filename="package://robot_description/meshes/Link_4.STL" />
            </geometry>
        </collision>
    </link>
    <joint name="Joint2_4" type="revolute">
        <origin rpy="0 -1.5707963267948966 -3.141592653589793" xyz="0.1745 0 0" />
        <parent link="Link2_3" />
        <child link="Link2_4" />
        <axis xyz="0 0 1" />
        <dynamics damping="0.1" friction="0.8" />
        <limit effort="100" lower="-3.141592653589793" upper="3.141592653589793" velocity="10" />
    </joint>
    <link name="Link2_5">
        <inertial>
            <origin rpy="0 0 0" xyz="0.058277 0 -0.001068" />
            <mass value="0.327" />
            <inertia ixx="0.000412080" ixy="0" ixz="0.000002889" iyy="0.000943104" iyz="0" izz="0.000708641" />
        </inertial>
        <visual>
            <origin rpy="0 0 0" xyz="0 0 0" />
            <geometry>
                <mesh filename="package://robot_description/meshes/Link_5.STL" />
            </geometry>
            <material name="">
                <color rgba="1 1 1 1" />
            </material>
        </visual>
        <collision>
            <origin rpy="0 0 0" xyz="0 0 0" />
            <geometry>
                <mesh filename="package://robot_description/meshes/Link_5.STL" />
            </geometry>
        </collision>
    </link>
    <joint name="Joint2_5" type="revolute">
        <origin rpy="3.141592653589793 -1.5707963267948966 0" xyz="0 0 0.1795" />
        <parent link="Link2_4" />
        <child link="Link2_5" />
        <axis xyz="0 0 1" />
        <dynamics damping="0.1" friction="0.8" />
        <limit effort="100" lower="-1.9198621771937623" upper="1.9198621771937623" velocity="10" />
    </joint>
    <link name="Link2_6">
        <inertial>
            <origin rpy="0 0 0" xyz="-0.000076 -0.001467 0.088450" />
            <mass value="0.366" />
            <inertia ixx="0.000945510" ixy="-0.000011196" ixz="0" iyy="0.000811306" iyz="-0.000011704" izz="0.000402389" />
        </inertial>
        <visual>
            <origin rpy="0 0 0" xyz="0 0 0" />
            <geometry>
                <mesh filename="package://robot_description/meshes/Link_6.STL" />
            </geometry>
            <material name="">
                <color rgba="1 1 1 1" />
            </material>
        </visual>
        <collision>
            <origin rpy="0 0 0" xyz="0 0 0" />
            <geometry>
                <mesh filename="package://robot_description/meshes/Link_6.STL" />
            </geometry>
        </collision>
    </link>
    <joint name="Joint2_6" type="revolute">
        <origin rpy="3.141592653589793 -1.5707963267948966 0" xyz="0.141 0 0" />
        <parent link="Link2_5" />
        <child link="Link2_6" />
        <axis xyz="0 0 1" />
        <dynamics damping="0.1" friction="0.8" />
        <limit effort="100" lower="-3.141592653589793" upper="3.141592653589793" velocity="10" />
    </joint>
    <joint name="Joint2_hand" type="fixed">
        <parent link="Link2_6" />
        <child link="Link2_robotiq_arg2f_base_link" />
        <origin rpy="0 0 0" xyz="0 0 0.0385" />
    </joint>
    <transmission name="Link2_finger_joint_trans">
        <type>transmission_interface/SimpleTransmission</type>
        <joint name="Link2_finger_joint">
            <hardwareInterface>hardware_interface/EffortJointInterface</hardwareInterface>
        </joint>
        <actuator name="Link2_finger_joint_motor">
            <mechanicalReduction>1</mechanicalReduction>
            <hardwareInterface>hardware_interface/EffortJointInterface</hardwareInterface>
        </actuator>
    </transmission>
    <!-- base link -->
    <link name="Link2_robotiq_arg2f_base_link">
        <inertial>
            <origin rpy="0 0 0" xyz="8.625E-08 -4.6583E-06 0.03145" />
            <mass value="0.22652" />
            <inertia ixx="0.00020005" ixy="-4.2442E-10" ixz="-2.9069E-10" iyy="0.00017832" iyz="-3.4402E-08" izz="0.00013478" />
        </inertial>
        <visual>
            <origin rpy="0 0 0" xyz="0 0 0" />
            <geometry>
                <mesh filename="package://robotiq_2f_85_gripper_visualization/meshes/visual/robotiq_arg2f_base_link.stl" />
            </geometry>
            <material name="">
                <color rgba="0.1 0.1 0.1 1" />
            </material>
        </visual>
        <collision>
            <origin rpy="0 0 0" xyz="0 0 0" />
            <!-- <geometry><sphere radius="0.04" /></geometry> -->
            <geometry>
                <mesh filename="package://robotiq_2f_85_gripper_visualization/meshes/collision/robotiq_arg2f_base_link.stl" />
            </geometry>
            <surface>
                <friction>
                    <torsional>
                        <coefficient>5.0</coefficient>
                        <surface_radius>0.01</surface_radius>
                        <use_patch_radius>false</use_patch_radius>
                    </torsional>
                </friction>
            </surface>
        </collision>
    </link>
    <link name="Link2_left_outer_knuckle">
        <inertial>
            <origin rpy="0 0 0" xyz="-0.000200000000003065 0.0199435877845359 0.0292245259211331" />
            <mass value="0.00853198276973456" />
            <inertia ixx="2.89328108496468E-06" ixy="-1.57935047237397E-19" ixz="-1.93980378593255E-19" iyy="1.86719750325683E-06" iyz="-1.21858577871576E-06" izz="1.21905238907251E-06" />
        </inertial>
        <visual>
            <origin rpy="0 0 0" xyz="0 0 0" />
            <geometry>
                <mesh filename="package://robotiq_2f_85_gripper_visualization/meshes/visual/robotiq_arg2f_85_outer_knuckle.dae" scale="0.001 0.001 0.001" />
            </geometry>
            <material name="">
                <color rgba="0.792156862745098 0.819607843137255 0.933333333333333 1" />
            </material>
        </visual>
        <collision>
            <origin rpy="0 0 0" xyz="0 0 0" />
            <geometry>
                <mesh filename="package://robotiq_2f_85_gripper_visualization/meshes/collision/robotiq_arg2f_85_outer_knuckle.dae" scale="0.001 0.001 0.001" />
            </geometry>
        </collision>
    </link>
    <link name="Link2_left_outer_finger">
        <inertial>
            <origin rpy="0 0 0" xyz="0.00030115855001899 0.0373907951953854 -0.0208027427000385" />
            <mass value="0.022614240507152" />
            <inertia ixx="1.52518312458174E-05" ixy="9.76583423954399E-10" ixz="-5.43838577022588E-10" iyy="6.17694243867776E-06" iyz="6.78636130740228E-06" izz="1.16494917907219E-05" />
        </inertial>
        <visual>
            <origin rpy="0 0 0" xyz="0 0 0" />
            <geometry>
                <mesh filename="package://robotiq_2f_85_gripper_visualization/meshes/visual/robotiq_arg2f_85_outer_finger.dae" scale="0.001 0.001 0.001" />
            </geometry>
            <material name="">
                <color rgba="0.1 0.1 0.1 1" />
            </material>
        </visual>
        <collision>
            <origin rpy="0 0 0" xyz="0 0 0" />
            <geometry>
                <mesh filename="package://robotiq_2f_85_gripper_visualization/meshes/collision/robotiq_arg2f_85_outer_finger.dae" scale="0.001 0.001 0.001" />
            </geometry>
        </collision>
    </link>
    <link name="Link2_left_inner_finger">
        <inertial>
            <origin rpy="0 0 0" xyz="0.000299999999999317 0.0160078233491243 -0.0136945669206257" />
            <mass value="0.0104003125914103" />
            <inertia ixx="2.71909453810972E-06" ixy="1.35402465472579E-21" ixz="-7.1817349065269E-22" iyy="7.69100314106116E-07" iyz="6.74715432769696E-07" izz="2.30315190420171E-06" />
        </inertial>
        <visual>
            <origin rpy="0 0 0" xyz="0 0 0" />
            <geometry>
                <mesh filename="package://robotiq_2f_85_gripper_visualization/meshes/visual/robotiq_arg2f_85_inner_finger.dae" scale="0.001 0.001 0.001" />
            </geometry>
            <material name="">
                <color rgba="0.1 0.1 0.1 1" />
            </material>
        </visual>
        <collision>
            <origin rpy="0 0 0" xyz="0 0 0" />
            <geometry>
                <mesh filename="package://robotiq_2f_85_gripper_visualization/meshes/collision/robotiq_arg2f_85_inner_finger.dae" scale="0.001 0.001 0.001" />
            </geometry>
        </collision>
    </link>
    <link name="Link2_left_inner_finger_pad">
        <visual>
            <origin rpy="0 0 0" xyz="0 0 0" />
            <geometry>
                <box size="0.022 0.00635 0.0375" />
            </geometry>
            <material name="">
                <color rgba="0.9 0.9 0.9 1" />
            </material>
        </visual>
        <collision>
            <origin rpy="0 0 0" xyz="0 0 0" />
            <geometry>
                <box size="0.022 0.00635 0.0375" />
            </geometry>
            <material name="">
                <color rgba="0.9 0.0 0.0 1" />
            </material>
        </collision>
        <inertial>
            <mass value="0.1" />
            <origin xyz="0 0 0" rpy="0 0 0" />
            <inertia ixx="0.03" iyy="0.03" izz="0.03" ixy="0.0" ixz="0.0" iyz="0.0" />
        </inertial>
    </link>
    <link name="Link2_left_inner_knuckle">
        <inertial>
            <origin rpy="0 0 0" xyz="0.000123011831763771 0.0507850843201817 0.00103968640075166" />
            <mass value="0.0271177346495152" />
            <inertia ixx="2.61910379223783E-05" ixy="-2.43616858946494E-07" ixz="-6.37789906117123E-09" iyy="2.8270243746167E-06" iyz="-5.37200748039765E-07" izz="2.83695868220296E-05" />
        </inertial>
        <visual>
            <origin rpy="0 0 0" xyz="0 0 0" />
            <geometry>
                <mesh filename="package://robotiq_2f_85_gripper_visualization/meshes/visual/robotiq_arg2f_85_inner_knuckle.dae" scale="0.001 0.001 0.001" />
            </geometry>
            <material name="">
                <color rgba="0.1 0.1 0.1 1" />
            </material>
        </visual>
        <collision>
            <origin rpy="0 0 0" xyz="0 0 0" />
            <geometry>
                <mesh filename="package://robotiq_2f_85_gripper_visualization/meshes/collision/robotiq_arg2f_85_inner_knuckle.dae" scale="0.001 0.001 0.001" />
            </geometry>
        </collision>
    </link>
    <joint name="Link2_left_outer_finger_joint" type="fixed">
        <origin rpy="0 0 0" xyz="0 0.0315 -0.0041" />
        <parent link="Link2_left_outer_knuckle" />
        <child link="Link2_left_outer_finger" />
        <axis xyz="1 0 0" />
    </joint>
    <joint name="Link2_left_inner_knuckle_joint" type="revolute">
        <!-- <origin xyz="0 ${reflect * -0.0127} 0.06142" rpy="${pi / 2 + .725} 0 ${(reflect - 1) * pi / 2}" /> -->
        <origin rpy="0 0 3.141592653589793" xyz="0 -0.0127 0.06142" />
        <parent link="Link2_robotiq_arg2f_base_link" />
        <child link="Link2_left_inner_knuckle" />
        <axis xyz="1 0 0" />
        <limit effort="1000" lower="0" upper="0.8757" velocity="0.5" />
        <mimic joint="Link2_finger_joint" multiplier="1" offset="0" />
    </joint>
    <joint name="Link2_left_inner_finger_joint" type="revolute">
        <origin rpy="0 0 0" xyz="0 0.0061 0.0471" />
        <parent link="Link2_left_outer_finger" />
        <child link="Link2_left_inner_finger" />
        <axis xyz="1 0 0" />
        <limit effort="1000" lower="-0.8757" upper="0" velocity="0.5" />
        <mimic joint="Link2_finger_joint" multiplier="-1" offset="0" />
    </joint>
    <joint name="Link2_left_inner_finger_pad_joint" type="fixed">
        <origin rpy="0 0 0" xyz="0 -0.0220203446692936 0.03242" />
        <parent link="Link2_left_inner_finger" />
        <child link="Link2_left_inner_finger_pad" />
        <axis xyz="0 0 1" />
    </joint>
    <joint name="Link2_finger_joint" type="revolute">
        <origin rpy="0 0 3.141592653589793" xyz="0 -0.0306011 0.054904" />
        <parent link="Link2_robotiq_arg2f_base_link" />
        <child link="Link2_left_outer_knuckle" />
        <axis xyz="1 0 0" />
        <limit effort="1000" lower="0" upper="0.8" velocity="0.5" />
    </joint>
    <joint name="Link2_right_outer_finger_joint" type="fixed">
        <origin rpy="0 0 0" xyz="0 0.0315 -0.0041" />
        <parent link="Link2_right_outer_knuckle" />
        <child link="Link2_right_outer_finger" />
        <axis xyz="1 0 0" />
    </joint>
    <joint name="Link2_right_inner_knuckle_joint" type="revolute">
        <!-- <origin xyz="0 ${reflect * -0.0127} 0.06142" rpy="${pi / 2 + .725} 0 ${(reflect - 1) * pi / 2}" /> -->
        <origin rpy="0 0 0.0" xyz="0 0.0127 0.06142" />
        <parent link="Link2_robotiq_arg2f_base_link" />
        <child link="Link2_right_inner_knuckle" />
        <axis xyz="1 0 0" />
        <limit effort="1000" lower="0" upper="0.8757" velocity="0.5" />
        <mimic joint="Link2_finger_joint" multiplier="1" offset="0" />
    </joint>
    <joint name="Link2_right_inner_finger_joint" type="revolute">
        <origin rpy="0 0 0" xyz="0 0.0061 0.0471" />
        <parent link="Link2_right_outer_finger" />
        <child link="Link2_right_inner_finger" />
        <axis xyz="1 0 0" />
        <limit effort="1000" lower="-0.8757" upper="0" velocity="0.5" />
        <mimic joint="Link2_finger_joint" multiplier="-1" offset="0" />
    </joint>
    <joint name="Link2_right_inner_finger_pad_joint" type="fixed">
        <origin rpy="0 0 0" xyz="0 -0.0220203446692936 0.03242" />
        <parent link="Link2_right_inner_finger" />
        <child link="Link2_right_inner_finger_pad" />
        <axis xyz="0 0 1" />
    </joint>
    <link name="Link2_right_outer_knuckle">
        <inertial>
            <origin rpy="0 0 0" xyz="-0.000200000000003065 0.0199435877845359 0.0292245259211331" />
            <mass value="0.00853198276973456" />
            <inertia ixx="2.89328108496468E-06" ixy="-1.57935047237397E-19" ixz="-1.93980378593255E-19" iyy="1.86719750325683E-06" iyz="-1.21858577871576E-06" izz="1.21905238907251E-06" />
        </inertial>
        <visual>
            <origin rpy="0 0 0" xyz="0 0 0" />
            <geometry>
                <mesh filename="package://robotiq_2f_85_gripper_visualization/meshes/visual/robotiq_arg2f_85_outer_knuckle.dae" scale="0.001 0.001 0.001" />
            </geometry>
            <material name="">
                <color rgba="0.792156862745098 0.819607843137255 0.933333333333333 1" />
            </material>
        </visual>
        <collision>
            <origin rpy="0 0 0" xyz="0 0 0" />
            <geometry>
                <mesh filename="package://robotiq_2f_85_gripper_visualization/meshes/collision/robotiq_arg2f_85_outer_knuckle.dae" scale="0.001 0.001 0.001" />
            </geometry>
        </collision>
    </link>
    <link name="Link2_right_outer_finger">
        <inertial>
            <origin rpy="0 0 0" xyz="0.00030115855001899 0.0373907951953854 -0.0208027427000385" />
            <mass value="0.022614240507152" />
            <inertia ixx="1.52518312458174E-05" ixy="9.76583423954399E-10" ixz="-5.43838577022588E-10" iyy="6.17694243867776E-06" iyz="6.78636130740228E-06" izz="1.16494917907219E-05" />
        </inertial>
        <visual>
            <origin rpy="0 0 0" xyz="0 0 0" />
            <geometry>
                <mesh filename="package://robotiq_2f_85_gripper_visualization/meshes/visual/robotiq_arg2f_85_outer_finger.dae" scale="0.001 0.001 0.001" />
            </geometry>
            <material name="">
                <color rgba="0.1 0.1 0.1 1" />
            </material>
        </visual>
        <collision>
            <origin rpy="0 0 0" xyz="0 0 0" />
            <geometry>
                <mesh filename="package://robotiq_2f_85_gripper_visualization/meshes/collision/robotiq_arg2f_85_outer_finger.dae" scale="0.001 0.001 0.001" />
            </geometry>
        </collision>
    </link>
    <link name="Link2_right_inner_finger">
        <inertial>
            <origin rpy="0 0 0" xyz="0.000299999999999317 0.0160078233491243 -0.0136945669206257" />
            <mass value="0.0104003125914103" />
            <inertia ixx="2.71909453810972E-06" ixy="1.35402465472579E-21" ixz="-7.1817349065269E-22" iyy="7.69100314106116E-07" iyz="6.74715432769696E-07" izz="2.30315190420171E-06" />
        </inertial>
        <visual>
            <origin rpy="0 0 0" xyz="0 0 0" />
            <geometry>
                <mesh filename="package://robotiq_2f_85_gripper_visualization/meshes/visual/robotiq_arg2f_85_inner_finger.dae" scale="0.001 0.001 0.001" />
            </geometry>
            <material name="">
                <color rgba="0.1 0.1 0.1 1" />
            </material>
        </visual>
        <collision>
            <origin rpy="0 0 0" xyz="0 0 0" />
            <geometry>
                <mesh filename="package://robotiq_2f_85_gripper_visualization/meshes/collision/robotiq_arg2f_85_inner_finger.dae" scale="0.001 0.001 0.001" />
            </geometry>
        </collision>
    </link>
    <link name="Link2_right_inner_finger_pad">
        <visual>
            <origin rpy="0 0 0" xyz="0 0 0" />
            <geometry>
                <box size="0.022 0.00635 0.0375" />
            </geometry>
            <material name="">
                <color rgba="0.9 0.9 0.9 1" />
            </material>
        </visual>
        <collision>
            <origin rpy="0 0 0" xyz="0 0 0" />
            <geometry>
                <box size="0.022 0.00635 0.0375" />
            </geometry>
            <material name="">
                <color rgba="0.9 0.0 0.0 1" />
            </material>
        </collision>
        <inertial>
            <mass value="0.1" />
            <origin xyz="0 0 0" rpy="0 0 0" />
            <inertia ixx="0.03" iyy="0.03" izz="0.03" ixy="0.0" ixz="0.0" iyz="0.0" />
        </inertial>
    </link>
    <link name="Link2_right_inner_knuckle">
        <inertial>
            <origin rpy="0 0 0" xyz="0.000123011831763771 0.0507850843201817 0.00103968640075166" />
            <mass value="0.0271177346495152" />
            <inertia ixx="2.61910379223783E-05" ixy="-2.43616858946494E-07" ixz="-6.37789906117123E-09" iyy="2.8270243746167E-06" iyz="-5.37200748039765E-07" izz="2.83695868220296E-05" />
        </inertial>
        <visual>
            <origin rpy="0 0 0" xyz="0 0 0" />
            <geometry>
                <mesh filename="package://robotiq_2f_85_gripper_visualization/meshes/visual/robotiq_arg2f_85_inner_knuckle.dae" scale="0.001 0.001 0.001" />
            </geometry>
            <material name="">
                <color rgba="0.1 0.1 0.1 1" />
            </material>
        </visual>
        <collision>
            <origin rpy="0 0 0" xyz="0 0 0" />
            <geometry>
                <mesh filename="package://robotiq_2f_85_gripper_visualization/meshes/collision/robotiq_arg2f_85_inner_knuckle.dae" scale="0.001 0.001 0.001" />
            </geometry>
        </collision>
    </link>
    <joint name="Link2_right_finger_joint" type="revolute">
        <origin rpy="0 0 0" xyz="0 0.0306011 0.054904" />
        <parent link="Link2_robotiq_arg2f_base_link" />
        <child link="Link2_right_outer_knuckle" />
        <axis xyz="1 0 0" />
        <limit effort="1000" lower="0" upper="0.81" velocity="0.5" />
        <mimic joint="Link2_finger_joint" multiplier="1" offset="0" />
    </joint>
    <link name="Link3_0">
        <inertial>
            <origin rpy="0 0 0" xyz="0.085427 -0.025518 0" />
            <mass value="0.960" />
            <inertia ixx="0.000648473" ixy="-0.001018876" ixz="0.000012959" iyy="0.002674366" iyz="0" izz="0.003031056" />
        </inertial>
        <visual>
            <origin rpy="0 0 0" xyz="0 0 0" />
            <geometry>
                <mesh filename="package://robot_description/meshes/Link_0.STL" />
            </geometry>
            <material name="">
                <color rgba="0 1 1 1" />
            </material>
        </visual>
        <collision>
            <origin rpy="0 0 0" xyz="0 0 0" />
            <geometry>
                <mesh filename="package://robot_description/meshes/Link_0.STL" />
            </geometry>
        </collision>
    </link>
    <joint name="Joint3_0" type="revolute">
        <origin rpy="1.5707963267948966 0 3.9269908169872414" xyz="-0.072125 -0.072125 0.018" />
        <parent link="base_link" />
        <child link="Link3_0" />
        <axis xyz="0 0 1" />
        <dynamics damping="0.1" friction="0.8" />
        <limit effort="1000" lower="0" upper="1.5707963267948966" velocity="10" />
    </joint>
    <link name="Link3_1">
        <inertial>
            <origin rpy="0 0 0" xyz="0.052469 -0.009040 0.002060" />
            <mass value="0.914" />
            <inertia ixx="0.000671687" ixy="-0.000084224" ixz="-0.000107815" iyy="0.000786758" iyz="0.000017298" izz="0.000958254" />
        </inertial>
        <visual>
            <origin rpy="0 0 0" xyz="0 0 0" />
            <geometry>
                <mesh filename="package://robot_description/meshes/Link_1.STL" />
            </geometry>
            <material name="">
                <color rgba="1 1 1 1" />
            </material>
        </visual>
        <collision>
            <origin rpy="0 0 0" xyz="0 0 0" />
            <geometry>
                <mesh filename="package://robot_description/meshes/Link_1.STL" />
            </geometry>
        </collision>
    </link>
    <joint name="Joint3_1" type="revolute">
        <origin rpy="-1.5707963267948966 0 0" xyz="0.12 -0.117 0" />
        <parent link="Link3_0" />
        <child link="Link3_1" />
        <axis xyz="0 0 1" />
        <dynamics damping="0.1" friction="0.8" />
        <limit effort="300" lower="-2.356194490192345" upper="4.71238898038469" velocity="10" />
    </joint>
    <link name="Link3_2">
        <inertial>
            <origin rpy="0 0 0" xyz="0.273270 0.000006 0.007530" />
            <mass value="1.144" />
            <inertia ixx="0.000909959" ixy="0" ixz="0.000569994" iyy="0.018834040" iyz="0" izz="0.018336908" />
        </inertial>
        <visual>
            <origin rpy="0 0 0" xyz="0 0 0" />
            <geometry>
                <mesh filename="package://robot_description/meshes/Link_2.STL" />
            </geometry>
            <material name="">
                <color rgba="1 1 1 1" />
            </material>
        </visual>
        <collision>
            <origin rpy="0 0 0" xyz="0 0 0" />
            <geometry>
                <mesh filename="package://robot_description/meshes/Link_2.STL" />
            </geometry>
        </collision>
    </link>
    <joint name="Joint3_2" type="revolute">
        <origin rpy="1.5707963267948966 0 0" xyz="0.0625 -0.0025 0" />
        <parent link="Link3_1" />
        <child link="Link3_2" />
        <axis xyz="0 0 1" />
        <dynamics damping="0.1" friction="0.8" />
        <limit effort="300" lower="-2.0943951023931953" upper="1.5707963267948966" velocity="10" />
    </joint>
    <link name="Link3_3">
        <inertial>
            <origin rpy="0 0 0" xyz="0.081336 -0.0003 -0.000693" />
            <mass value="0.395" />
            <inertia ixx="0.000576423" ixy="0" ixz="0.000031283" iyy="0.001662107" iyz="0" izz="0.001334389" />
        </inertial>
        <visual>
            <origin rpy="0 0 0" xyz="0 0 0" />
            <geometry>
                <mesh filename="package://robot_description/meshes/Link_3.STL" />
            </geometry>
            <material name="">
                <color rgba="1 1 1 1" />
            </material>
        </visual>
        <collision>
            <origin rpy="0 0 0" xyz="0 0 0" />
            <geometry>
                <mesh filename="package://robot_description/meshes/Link_3.STL" />
            </geometry>
        </collision>
    </link>
    <joint name="Joint3_3" type="revolute">
        <origin rpy="-3.141592653589793 0 0" xyz="0.35 0.0002 0" />
        <parent link="Link3_2" />
        <child link="Link3_3" />
        <axis xyz="0 0 1" />
        <dynamics damping="0.1" friction="0.8" />
        <limit effort="300" lower="-2.530727415391778" upper="2.530727415391778" velocity="10" />
    </joint>
    <link name="Link3_4">
        <inertial>
            <origin rpy="0 0 0" xyz="0.005438 0.000120 0.134002" />
            <mass value="0.376" />
            <inertia ixx="0.0001484574" ixy="0" ixz="0.000099045" iyy="0.001658464" iyz="-0.000002871" izz="0.000360737" />
        </inertial>
        <visual>
            <origin rpy="0 0 0" xyz="0 0 0" />
            <geometry>
                <mesh filename="package://robot_description/meshes/Link_4.STL" />
            </geometry>
            <material name="">
                <color rgba="1 1 1 1" />
            </material>
        </visual>
        <collision>
            <origin rpy="0 0 0" xyz="0 0 0" />
            <geometry>
                <mesh filename="package://robot_description/meshes/Link_4.STL" />
            </geometry>
        </collision>
    </link>
    <joint name="Joint3_4" type="revolute">
        <origin rpy="0 -1.5707963267948966 -3.141592653589793" xyz="0.1745 0 0" />
        <parent link="Link3_3" />
        <child link="Link3_4" />
        <axis xyz="0 0 1" />
        <dynamics damping="0.1" friction="0.8" />
        <limit effort="100" lower="-3.141592653589793" upper="3.141592653589793" velocity="10" />
    </joint>
    <link name="Link3_5">
        <inertial>
            <origin rpy="0 0 0" xyz="0.058277 0 -0.001068" />
            <mass value="0.327" />
            <inertia ixx="0.000412080" ixy="0" ixz="0.000002889" iyy="0.000943104" iyz="0" izz="0.000708641" />
        </inertial>
        <visual>
            <origin rpy="0 0 0" xyz="0 0 0" />
            <geometry>
                <mesh filename="package://robot_description/meshes/Link_5.STL" />
            </geometry>
            <material name="">
                <color rgba="1 1 1 1" />
            </material>
        </visual>
        <collision>
            <origin rpy="0 0 0" xyz="0 0 0" />
            <geometry>
                <mesh filename="package://robot_description/meshes/Link_5.STL" />
            </geometry>
        </collision>
    </link>
    <joint name="Joint3_5" type="revolute">
        <origin rpy="3.141592653589793 -1.5707963267948966 0" xyz="0 0 0.1795" />
        <parent link="Link3_4" />
        <child link="Link3_5" />
        <axis xyz="0 0 1" />
        <dynamics damping="0.1" friction="0.8" />
        <limit effort="100" lower="-1.9198621771937623" upper="1.9198621771937623" velocity="10" />
    </joint>
    <link name="Link3_6">
        <inertial>
            <origin rpy="0 0 0" xyz="-0.000076 -0.001467 0.088450" />
            <mass value="0.366" />
            <inertia ixx="0.000945510" ixy="-0.000011196" ixz="0" iyy="0.000811306" iyz="-0.000011704" izz="0.000402389" />
        </inertial>
        <visual>
            <origin rpy="0 0 0" xyz="0 0 0" />
            <geometry>
                <mesh filename="package://robot_description/meshes/Link_6.STL" />
            </geometry>
            <material name="">
                <color rgba="1 1 1 1" />
            </material>
        </visual>
        <collision>
            <origin rpy="0 0 0" xyz="0 0 0" />
            <geometry>
                <mesh filename="package://robot_description/meshes/Link_6.STL" />
            </geometry>
        </collision>
    </link>
    <joint name="Joint3_6" type="revolute">
        <origin rpy="3.141592653589793 -1.5707963267948966 0" xyz="0.141 0 0" />
        <parent link="Link3_5" />
        <child link="Link3_6" />
        <axis xyz="0 0 1" />
        <dynamics damping="0.1" friction="0.8" />
        <limit effort="100" lower="-3.141592653589793" upper="3.141592653589793" velocity="10" />
    </joint>
    <joint name="Joint3_hand" type="fixed">
        <parent link="Link3_6" />
        <child link="Link3_robotiq_arg2f_base_link" />
        <origin rpy="0 0 0" xyz="0 0 0.0385" />
    </joint>
    <transmission name="Link3_finger_joint_trans">
        <type>transmission_interface/SimpleTransmission</type>
        <joint name="Link3_finger_joint">
            <hardwareInterface>hardware_interface/EffortJointInterface</hardwareInterface>
        </joint>
        <actuator name="Link3_finger_joint_motor">
            <mechanicalReduction>1</mechanicalReduction>
            <hardwareInterface>hardware_interface/EffortJointInterface</hardwareInterface>
        </actuator>
    </transmission>
    <!-- base link -->
    <link name="Link3_robotiq_arg2f_base_link">
        <inertial>
            <origin rpy="0 0 0" xyz="8.625E-08 -4.6583E-06 0.03145" />
            <mass value="0.22652" />
            <inertia ixx="0.00020005" ixy="-4.2442E-10" ixz="-2.9069E-10" iyy="0.00017832" iyz="-3.4402E-08" izz="0.00013478" />
        </inertial>
        <visual>
            <origin rpy="0 0 0" xyz="0 0 0" />
            <geometry>
                <mesh filename="package://robotiq_2f_85_gripper_visualization/meshes/visual/robotiq_arg2f_base_link.stl" />
            </geometry>
            <material name="">
                <color rgba="0.1 0.1 0.1 1" />
            </material>
        </visual>
        <collision>
            <origin rpy="0 0 0" xyz="0 0 0" />
            <!-- <geometry><sphere radius="0.04" /></geometry> -->
            <geometry>
                <mesh filename="package://robotiq_2f_85_gripper_visualization/meshes/collision/robotiq_arg2f_base_link.stl" />
            </geometry>
            <surface>
                <friction>
                    <torsional>
                        <coefficient>5.0</coefficient>
                        <surface_radius>0.01</surface_radius>
                        <use_patch_radius>false</use_patch_radius>
                    </torsional>
                </friction>
            </surface>
        </collision>
    </link>
    <link name="Link3_left_outer_knuckle">
        <inertial>
            <origin rpy="0 0 0" xyz="-0.000200000000003065 0.0199435877845359 0.0292245259211331" />
            <mass value="0.00853198276973456" />
            <inertia ixx="2.89328108496468E-06" ixy="-1.57935047237397E-19" ixz="-1.93980378593255E-19" iyy="1.86719750325683E-06" iyz="-1.21858577871576E-06" izz="1.21905238907251E-06" />
        </inertial>
        <visual>
            <origin rpy="0 0 0" xyz="0 0 0" />
            <geometry>
                <mesh filename="package://robotiq_2f_85_gripper_visualization/meshes/visual/robotiq_arg2f_85_outer_knuckle.dae" scale="0.001 0.001 0.001" />
            </geometry>
            <material name="">
                <color rgba="0.792156862745098 0.819607843137255 0.933333333333333 1" />
            </material>
        </visual>
        <collision>
            <origin rpy="0 0 0" xyz="0 0 0" />
            <geometry>
                <mesh filename="package://robotiq_2f_85_gripper_visualization/meshes/collision/robotiq_arg2f_85_outer_knuckle.dae" scale="0.001 0.001 0.001" />
            </geometry>
        </collision>
    </link>
    <link name="Link3_left_outer_finger">
        <inertial>
            <origin rpy="0 0 0" xyz="0.00030115855001899 0.0373907951953854 -0.0208027427000385" />
            <mass value="0.022614240507152" />
            <inertia ixx="1.52518312458174E-05" ixy="9.76583423954399E-10" ixz="-5.43838577022588E-10" iyy="6.17694243867776E-06" iyz="6.78636130740228E-06" izz="1.16494917907219E-05" />
        </inertial>
        <visual>
            <origin rpy="0 0 0" xyz="0 0 0" />
            <geometry>
                <mesh filename="package://robotiq_2f_85_gripper_visualization/meshes/visual/robotiq_arg2f_85_outer_finger.dae" scale="0.001 0.001 0.001" />
            </geometry>
            <material name="">
                <color rgba="0.1 0.1 0.1 1" />
            </material>
        </visual>
        <collision>
            <origin rpy="0 0 0" xyz="0 0 0" />
            <geometry>
                <mesh filename="package://robotiq_2f_85_gripper_visualization/meshes/collision/robotiq_arg2f_85_outer_finger.dae" scale="0.001 0.001 0.001" />
            </geometry>
        </collision>
    </link>
    <link name="Link3_left_inner_finger">
        <inertial>
            <origin rpy="0 0 0" xyz="0.000299999999999317 0.0160078233491243 -0.0136945669206257" />
            <mass value="0.0104003125914103" />
            <inertia ixx="2.71909453810972E-06" ixy="1.35402465472579E-21" ixz="-7.1817349065269E-22" iyy="7.69100314106116E-07" iyz="6.74715432769696E-07" izz="2.30315190420171E-06" />
        </inertial>
        <visual>
            <origin rpy="0 0 0" xyz="0 0 0" />
            <geometry>
                <mesh filename="package://robotiq_2f_85_gripper_visualization/meshes/visual/robotiq_arg2f_85_inner_finger.dae" scale="0.001 0.001 0.001" />
            </geometry>
            <material name="">
                <color rgba="0.1 0.1 0.1 1" />
            </material>
        </visual>
        <collision>
            <origin rpy="0 0 0" xyz="0 0 0" />
            <geometry>
                <mesh filename="package://robotiq_2f_85_gripper_visualization/meshes/collision/robotiq_arg2f_85_inner_finger.dae" scale="0.001 0.001 0.001" />
            </geometry>
        </collision>
    </link>
    <link name="Link3_left_inner_finger_pad">
        <visual>
            <origin rpy="0 0 0" xyz="0 0 0" />
            <geometry>
                <box size="0.022 0.00635 0.0375" />
            </geometry>
            <material name="">
                <color rgba="0.9 0.9 0.9 1" />
            </material>
        </visual>
        <collision>
            <origin rpy="0 0 0" xyz="0 0 0" />
            <geometry>
                <box size="0.022 0.00635 0.0375" />
            </geometry>
            <material name="">
                <color rgba="0.9 0.0 0.0 1" />
            </material>
        </collision>
        <inertial>
            <mass value="0.1" />
            <origin xyz="0 0 0" rpy="0 0 0" />
            <inertia ixx="0.03" iyy="0.03" izz="0.03" ixy="0.0" ixz="0.0" iyz="0.0" />
        </inertial>
    </link>
    <link name="Link3_left_inner_knuckle">
        <inertial>
            <origin rpy="0 0 0" xyz="0.000123011831763771 0.0507850843201817 0.00103968640075166" />
            <mass value="0.0271177346495152" />
            <inertia ixx="2.61910379223783E-05" ixy="-2.43616858946494E-07" ixz="-6.37789906117123E-09" iyy="2.8270243746167E-06" iyz="-5.37200748039765E-07" izz="2.83695868220296E-05" />
        </inertial>
        <visual>
            <origin rpy="0 0 0" xyz="0 0 0" />
            <geometry>
                <mesh filename="package://robotiq_2f_85_gripper_visualization/meshes/visual/robotiq_arg2f_85_inner_knuckle.dae" scale="0.001 0.001 0.001" />
            </geometry>
            <material name="">
                <color rgba="0.1 0.1 0.1 1" />
            </material>
        </visual>
        <collision>
            <origin rpy="0 0 0" xyz="0 0 0" />
            <geometry>
                <mesh filename="package://robotiq_2f_85_gripper_visualization/meshes/collision/robotiq_arg2f_85_inner_knuckle.dae" scale="0.001 0.001 0.001" />
            </geometry>
        </collision>
    </link>
    <joint name="Link3_left_outer_finger_joint" type="fixed">
        <origin rpy="0 0 0" xyz="0 0.0315 -0.0041" />
        <parent link="Link3_left_outer_knuckle" />
        <child link="Link3_left_outer_finger" />
        <axis xyz="1 0 0" />
    </joint>
    <joint name="Link3_left_inner_knuckle_joint" type="revolute">
        <!-- <origin xyz="0 ${reflect * -0.0127} 0.06142" rpy="${pi / 2 + .725} 0 ${(reflect - 1) * pi / 2}" /> -->
        <origin rpy="0 0 3.141592653589793" xyz="0 -0.0127 0.06142" />
        <parent link="Link3_robotiq_arg2f_base_link" />
        <child link="Link3_left_inner_knuckle" />
        <axis xyz="1 0 0" />
        <limit effort="1000" lower="0" upper="0.8757" velocity="0.5" />
        <mimic joint="Link3_finger_joint" multiplier="1" offset="0" />
    </joint>
    <joint name="Link3_left_inner_finger_joint" type="revolute">
        <origin rpy="0 0 0" xyz="0 0.0061 0.0471" />
        <parent link="Link3_left_outer_finger" />
        <child link="Link3_left_inner_finger" />
        <axis xyz="1 0 0" />
        <limit effort="1000" lower="-0.8757" upper="0" velocity="0.5" />
        <mimic joint="Link3_finger_joint" multiplier="-1" offset="0" />
    </joint>
    <joint name="Link3_left_inner_finger_pad_joint" type="fixed">
        <origin rpy="0 0 0" xyz="0 -0.0220203446692936 0.03242" />
        <parent link="Link3_left_inner_finger" />
        <child link="Link3_left_inner_finger_pad" />
        <axis xyz="0 0 1" />
    </joint>
    <joint name="Link3_finger_joint" type="revolute">
        <origin rpy="0 0 3.141592653589793" xyz="0 -0.0306011 0.054904" />
        <parent link="Link3_robotiq_arg2f_base_link" />
        <child link="Link3_left_outer_knuckle" />
        <axis xyz="1 0 0" />
        <limit effort="1000" lower="0" upper="0.8" velocity="0.5" />
    </joint>
    <joint name="Link3_right_outer_finger_joint" type="fixed">
        <origin rpy="0 0 0" xyz="0 0.0315 -0.0041" />
        <parent link="Link3_right_outer_knuckle" />
        <child link="Link3_right_outer_finger" />
        <axis xyz="1 0 0" />
    </joint>
    <joint name="Link3_right_inner_knuckle_joint" type="revolute">
        <!-- <origin xyz="0 ${reflect * -0.0127} 0.06142" rpy="${pi / 2 + .725} 0 ${(reflect - 1) * pi / 2}" /> -->
        <origin rpy="0 0 0.0" xyz="0 0.0127 0.06142" />
        <parent link="Link3_robotiq_arg2f_base_link" />
        <child link="Link3_right_inner_knuckle" />
        <axis xyz="1 0 0" />
        <limit effort="1000" lower="0" upper="0.8757" velocity="0.5" />
        <mimic joint="Link3_finger_joint" multiplier="1" offset="0" />
    </joint>
    <joint name="Link3_right_inner_finger_joint" type="revolute">
        <origin rpy="0 0 0" xyz="0 0.0061 0.0471" />
        <parent link="Link3_right_outer_finger" />
        <child link="Link3_right_inner_finger" />
        <axis xyz="1 0 0" />
        <limit effort="1000" lower="-0.8757" upper="0" velocity="0.5" />
        <mimic joint="Link3_finger_joint" multiplier="-1" offset="0" />
    </joint>
    <joint name="Link3_right_inner_finger_pad_joint" type="fixed">
        <origin rpy="0 0 0" xyz="0 -0.0220203446692936 0.03242" />
        <parent link="Link3_right_inner_finger" />
        <child link="Link3_right_inner_finger_pad" />
        <axis xyz="0 0 1" />
    </joint>
    <link name="Link3_right_outer_knuckle">
        <inertial>
            <origin rpy="0 0 0" xyz="-0.000200000000003065 0.0199435877845359 0.0292245259211331" />
            <mass value="0.00853198276973456" />
            <inertia ixx="2.89328108496468E-06" ixy="-1.57935047237397E-19" ixz="-1.93980378593255E-19" iyy="1.86719750325683E-06" iyz="-1.21858577871576E-06" izz="1.21905238907251E-06" />
        </inertial>
        <visual>
            <origin rpy="0 0 0" xyz="0 0 0" />
            <geometry>
                <mesh filename="package://robotiq_2f_85_gripper_visualization/meshes/visual/robotiq_arg2f_85_outer_knuckle.dae" scale="0.001 0.001 0.001" />
            </geometry>
            <material name="">
                <color rgba="0.792156862745098 0.819607843137255 0.933333333333333 1" />
            </material>
        </visual>
        <collision>
            <origin rpy="0 0 0" xyz="0 0 0" />
            <geometry>
                <mesh filename="package://robotiq_2f_85_gripper_visualization/meshes/collision/robotiq_arg2f_85_outer_knuckle.dae" scale="0.001 0.001 0.001" />
            </geometry>
        </collision>
    </link>
    <link name="Link3_right_outer_finger">
        <inertial>
            <origin rpy="0 0 0" xyz="0.00030115855001899 0.0373907951953854 -0.0208027427000385" />
            <mass value="0.022614240507152" />
            <inertia ixx="1.52518312458174E-05" ixy="9.76583423954399E-10" ixz="-5.43838577022588E-10" iyy="6.17694243867776E-06" iyz="6.78636130740228E-06" izz="1.16494917907219E-05" />
        </inertial>
        <visual>
            <origin rpy="0 0 0" xyz="0 0 0" />
            <geometry>
                <mesh filename="package://robotiq_2f_85_gripper_visualization/meshes/visual/robotiq_arg2f_85_outer_finger.dae" scale="0.001 0.001 0.001" />
            </geometry>
            <material name="">
                <color rgba="0.1 0.1 0.1 1" />
            </material>
        </visual>
        <collision>
            <origin rpy="0 0 0" xyz="0 0 0" />
            <geometry>
                <mesh filename="package://robotiq_2f_85_gripper_visualization/meshes/collision/robotiq_arg2f_85_outer_finger.dae" scale="0.001 0.001 0.001" />
            </geometry>
        </collision>
    </link>
    <link name="Link3_right_inner_finger">
        <inertial>
            <origin rpy="0 0 0" xyz="0.000299999999999317 0.0160078233491243 -0.0136945669206257" />
            <mass value="0.0104003125914103" />
            <inertia ixx="2.71909453810972E-06" ixy="1.35402465472579E-21" ixz="-7.1817349065269E-22" iyy="7.69100314106116E-07" iyz="6.74715432769696E-07" izz="2.30315190420171E-06" />
        </inertial>
        <visual>
            <origin rpy="0 0 0" xyz="0 0 0" />
            <geometry>
                <mesh filename="package://robotiq_2f_85_gripper_visualization/meshes/visual/robotiq_arg2f_85_inner_finger.dae" scale="0.001 0.001 0.001" />
            </geometry>
            <material name="">
                <color rgba="0.1 0.1 0.1 1" />
            </material>
        </visual>
        <collision>
            <origin rpy="0 0 0" xyz="0 0 0" />
            <geometry>
                <mesh filename="package://robotiq_2f_85_gripper_visualization/meshes/collision/robotiq_arg2f_85_inner_finger.dae" scale="0.001 0.001 0.001" />
            </geometry>
        </collision>
    </link>
    <link name="Link3_right_inner_finger_pad">
        <visual>
            <origin rpy="0 0 0" xyz="0 0 0" />
            <geometry>
                <box size="0.022 0.00635 0.0375" />
            </geometry>
            <material name="">
                <color rgba="0.9 0.9 0.9 1" />
            </material>
        </visual>
        <collision>
            <origin rpy="0 0 0" xyz="0 0 0" />
            <geometry>
                <box size="0.022 0.00635 0.0375" />
            </geometry>
            <material name="">
                <color rgba="0.9 0.0 0.0 1" />
            </material>
        </collision>
        <inertial>
            <mass value="0.1" />
            <origin xyz="0 0 0" rpy="0 0 0" />
            <inertia ixx="0.03" iyy="0.03" izz="0.03" ixy="0.0" ixz="0.0" iyz="0.0" />
        </inertial>
    </link>
    <link name="Link3_right_inner_knuckle">
        <inertial>
            <origin rpy="0 0 0" xyz="0.000123011831763771 0.0507850843201817 0.00103968640075166" />
            <mass value="0.0271177346495152" />
            <inertia ixx="2.61910379223783E-05" ixy="-2.43616858946494E-07" ixz="-6.37789906117123E-09" iyy="2.8270243746167E-06" iyz="-5.37200748039765E-07" izz="2.83695868220296E-05" />
        </inertial>
        <visual>
            <origin rpy="0 0 0" xyz="0 0 0" />
            <geometry>
                <mesh filename="package://robotiq_2f_85_gripper_visualization/meshes/visual/robotiq_arg2f_85_inner_knuckle.dae" scale="0.001 0.001 0.001" />
            </geometry>
            <material name="">
                <color rgba="0.1 0.1 0.1 1" />
            </material>
        </visual>
        <collision>
            <origin rpy="0 0 0" xyz="0 0 0" />
            <geometry>
                <mesh filename="package://robotiq_2f_85_gripper_visualization/meshes/collision/robotiq_arg2f_85_inner_knuckle.dae" scale="0.001 0.001 0.001" />
            </geometry>
        </collision>
    </link>
    <joint name="Link3_right_finger_joint" type="revolute">
        <origin rpy="0 0 0" xyz="0 0.0306011 0.054904" />
        <parent link="Link3_robotiq_arg2f_base_link" />
        <child link="Link3_right_outer_knuckle" />
        <axis xyz="1 0 0" />
        <limit effort="1000" lower="0" upper="0.81" velocity="0.5" />
        <mimic joint="Link3_finger_joint" multiplier="1" offset="0" />
    </joint>
    <link name="Link4_0">
        <inertial>
            <origin rpy="0 0 0" xyz="0.085427 -0.025518 0" />
            <mass value="0.960" />
            <inertia ixx="0.000648473" ixy="-0.001018876" ixz="0.000012959" iyy="0.002674366" iyz="0" izz="0.003031056" />
        </inertial>
        <visual>
            <origin rpy="0 0 0" xyz="0 0 0" />
            <geometry>
                <mesh filename="package://robot_description/meshes/Link_0.STL" />
            </geometry>
            <material name="">
                <color rgba="0 1 1 1" />
            </material>
        </visual>
        <collision>
            <origin rpy="0 0 0" xyz="0 0 0" />
            <geometry>
                <mesh filename="package://robot_description/meshes/Link_0.STL" />
            </geometry>
        </collision>
    </link>
    <joint name="Joint4_0" type="revolute">
        <origin rpy="1.5707963267948966 0 5.497787143782138" xyz="0.072125 -0.072125 0.018" />
        <parent link="base_link" />
        <child link="Link4_0" />
        <axis xyz="0 0 1" />
        <dynamics damping="0.1" friction="0.8" />
        <limit effort="1000" lower="0" upper="1.5707963267948966" velocity="10" />
    </joint>
    <link name="Link4_1">
        <inertial>
            <origin rpy="0 0 0" xyz="0.052469 -0.009040 0.002060" />
            <mass value="0.914" />
            <inertia ixx="0.000671687" ixy="-0.000084224" ixz="-0.000107815" iyy="0.000786758" iyz="0.000017298" izz="0.000958254" />
        </inertial>
        <visual>
            <origin rpy="0 0 0" xyz="0 0 0" />
            <geometry>
                <mesh filename="package://robot_description/meshes/Link_1.STL" />
            </geometry>
            <material name="">
                <color rgba="1 1 1 1" />
            </material>
        </visual>
        <collision>
            <origin rpy="0 0 0" xyz="0 0 0" />
            <geometry>
                <mesh filename="package://robot_description/meshes/Link_1.STL" />
            </geometry>
        </collision>
    </link>
    <joint name="Joint4_1" type="revolute">
        <origin rpy="-1.5707963267948966 0 0" xyz="0.12 -0.117 0" />
        <parent link="Link4_0" />
        <child link="Link4_1" />
        <axis xyz="0 0 1" />
        <dynamics damping="0.1" friction="0.8" />
        <limit effort="300" lower="-2.356194490192345" upper="4.71238898038469" velocity="10" />
    </joint>
    <link name="Link4_2">
        <inertial>
            <origin rpy="0 0 0" xyz="0.273270 0.000006 0.007530" />
            <mass value="1.144" />
            <inertia ixx="0.000909959" ixy="0" ixz="0.000569994" iyy="0.018834040" iyz="0" izz="0.018336908" />
        </inertial>
        <visual>
            <origin rpy="0 0 0" xyz="0 0 0" />
            <geometry>
                <mesh filename="package://robot_description/meshes/Link_2.STL" />
            </geometry>
            <material name="">
                <color rgba="1 1 1 1" />
            </material>
        </visual>
        <collision>
            <origin rpy="0 0 0" xyz="0 0 0" />
            <geometry>
                <mesh filename="package://robot_description/meshes/Link_2.STL" />
            </geometry>
        </collision>
    </link>
    <joint name="Joint4_2" type="revolute">
        <origin rpy="1.5707963267948966 0 0" xyz="0.0625 -0.0025 0" />
        <parent link="Link4_1" />
        <child link="Link4_2" />
        <axis xyz="0 0 1" />
        <dynamics damping="0.1" friction="0.8" />
        <limit effort="300" lower="-2.0943951023931953" upper="1.5707963267948966" velocity="10" />
    </joint>
    <link name="Link4_3">
        <inertial>
            <origin rpy="0 0 0" xyz="0.081336 -0.0003 -0.000693" />
            <mass value="0.395" />
            <inertia ixx="0.000576423" ixy="0" ixz="0.000031283" iyy="0.001662107" iyz="0" izz="0.001334389" />
        </inertial>
        <visual>
            <origin rpy="0 0 0" xyz="0 0 0" />
            <geometry>
                <mesh filename="package://robot_description/meshes/Link_3.STL" />
            </geometry>
            <material name="">
                <color rgba="1 1 1 1" />
            </material>
        </visual>
        <collision>
            <origin rpy="0 0 0" xyz="0 0 0" />
            <geometry>
                <mesh filename="package://robot_description/meshes/Link_3.STL" />
            </geometry>
        </collision>
    </link>
    <joint name="Joint4_3" type="revolute">
        <origin rpy="-3.141592653589793 0 0" xyz="0.35 0.0002 0" />
        <parent link="Link4_2" />
        <child link="Link4_3" />
        <axis xyz="0 0 1" />
        <dynamics damping="0.1" friction="0.8" />
        <limit effort="300" lower="-2.530727415391778" upper="2.530727415391778" velocity="10" />
    </joint>
    <link name="Link4_4">
        <inertial>
            <origin rpy="0 0 0" xyz="0.005438 0.000120 0.134002" />
            <mass value="0.376" />
            <inertia ixx="0.0001484574" ixy="0" ixz="0.000099045" iyy="0.001658464" iyz="-0.000002871" izz="0.000360737" />
        </inertial>
        <visual>
            <origin rpy="0 0 0" xyz="0 0 0" />
            <geometry>
                <mesh filename="package://robot_description/meshes/Link_4.STL" />
            </geometry>
            <material name="">
                <color rgba="1 1 1 1" />
            </material>
        </visual>
        <collision>
            <origin rpy="0 0 0" xyz="0 0 0" />
            <geometry>
                <mesh filename="package://robot_description/meshes/Link_4.STL" />
            </geometry>
        </collision>
    </link>
    <joint name="Joint4_4" type="revolute">
        <origin rpy="0 -1.5707963267948966 -3.141592653589793" xyz="0.1745 0 0" />
        <parent link="Link4_3" />
        <child link="Link4_4" />
        <axis xyz="0 0 1" />
        <dynamics damping="0.1" friction="0.8" />
        <limit effort="100" lower="-3.141592653589793" upper="3.141592653589793" velocity="10" />
    </joint>
    <link name="Link4_5">
        <inertial>
            <origin rpy="0 0 0" xyz="0.058277 0 -0.001068" />
            <mass value="0.327" />
            <inertia ixx="0.000412080" ixy="0" ixz="0.000002889" iyy="0.000943104" iyz="0" izz="0.000708641" />
        </inertial>
        <visual>
            <origin rpy="0 0 0" xyz="0 0 0" />
            <geometry>
                <mesh filename="package://robot_description/meshes/Link_5.STL" />
            </geometry>
            <material name="">
                <color rgba="1 1 1 1" />
            </material>
        </visual>
        <collision>
            <origin rpy="0 0 0" xyz="0 0 0" />
            <geometry>
                <mesh filename="package://robot_description/meshes/Link_5.STL" />
            </geometry>
        </collision>
    </link>
    <joint name="Joint4_5" type="revolute">
        <origin rpy="3.141592653589793 -1.5707963267948966 0" xyz="0 0 0.1795" />
        <parent link="Link4_4" />
        <child link="Link4_5" />
        <axis xyz="0 0 1" />
        <dynamics damping="0.1" friction="0.8" />
        <limit effort="100" lower="-1.9198621771937623" upper="1.9198621771937623" velocity="10" />
    </joint>
    <link name="Link4_6">
        <inertial>
            <origin rpy="0 0 0" xyz="-0.000076 -0.001467 0.088450" />
            <mass value="0.366" />
            <inertia ixx="0.000945510" ixy="-0.000011196" ixz="0" iyy="0.000811306" iyz="-0.000011704" izz="0.000402389" />
        </inertial>
        <visual>
            <origin rpy="0 0 0" xyz="0 0 0" />
            <geometry>
                <mesh filename="package://robot_description/meshes/Link_6.STL" />
            </geometry>
            <material name="">
                <color rgba="1 1 1 1" />
            </material>
        </visual>
        <collision>
            <origin rpy="0 0 0" xyz="0 0 0" />
            <geometry>
                <mesh filename="package://robot_description/meshes/Link_6.STL" />
            </geometry>
        </collision>
    </link>
    <joint name="Joint4_6" type="revolute">
        <origin rpy="3.141592653589793 -1.5707963267948966 0" xyz="0.141 0 0" />
        <parent link="Link4_5" />
        <child link="Link4_6" />
        <axis xyz="0 0 1" />
        <dynamics damping="0.1" friction="0.8" />
        <limit effort="100" lower="-3.141592653589793" upper="3.141592653589793" velocity="10" />
    </joint>
    <joint name="Joint4_hand" type="fixed">
        <parent link="Link4_6" />
        <child link="Link4_robotiq_arg2f_base_link" />
        <origin rpy="0 0 0" xyz="0 0 0.0385" />
    </joint>
    <transmission name="Link4_finger_joint_trans">
        <type>transmission_interface/SimpleTransmission</type>
        <joint name="Link4_finger_joint">
            <hardwareInterface>hardware_interface/EffortJointInterface</hardwareInterface>
        </joint>
        <actuator name="Link4_finger_joint_motor">
            <mechanicalReduction>1</mechanicalReduction>
            <hardwareInterface>hardware_interface/EffortJointInterface</hardwareInterface>
        </actuator>
    </transmission>
    <!-- base link -->
    <link name="Link4_robotiq_arg2f_base_link">
        <inertial>
            <origin rpy="0 0 0" xyz="8.625E-08 -4.6583E-06 0.03145" />
            <mass value="0.22652" />
            <inertia ixx="0.00020005" ixy="-4.2442E-10" ixz="-2.9069E-10" iyy="0.00017832" iyz="-3.4402E-08" izz="0.00013478" />
        </inertial>
        <visual>
            <origin rpy="0 0 0" xyz="0 0 0" />
            <geometry>
                <mesh filename="package://robotiq_2f_85_gripper_visualization/meshes/visual/robotiq_arg2f_base_link.stl" />
            </geometry>
            <material name="">
                <color rgba="0.1 0.1 0.1 1" />
            </material>
        </visual>
        <collision>
            <origin rpy="0 0 0" xyz="0 0 0" />
            <!-- <geometry><sphere radius="0.04" /></geometry> -->
            <geometry>
                <mesh filename="package://robotiq_2f_85_gripper_visualization/meshes/collision/robotiq_arg2f_base_link.stl" />
            </geometry>
            <surface>
                <friction>
                    <torsional>
                        <coefficient>5.0</coefficient>
                        <surface_radius>0.01</surface_radius>
                        <use_patch_radius>false</use_patch_radius>
                    </torsional>
                </friction>
            </surface>
        </collision>
    </link>
    <link name="Link4_left_outer_knuckle">
        <inertial>
            <origin rpy="0 0 0" xyz="-0.000200000000003065 0.0199435877845359 0.0292245259211331" />
            <mass value="0.00853198276973456" />
            <inertia ixx="2.89328108496468E-06" ixy="-1.57935047237397E-19" ixz="-1.93980378593255E-19" iyy="1.86719750325683E-06" iyz="-1.21858577871576E-06" izz="1.21905238907251E-06" />
        </inertial>
        <visual>
            <origin rpy="0 0 0" xyz="0 0 0" />
            <geometry>
                <mesh filename="package://robotiq_2f_85_gripper_visualization/meshes/visual/robotiq_arg2f_85_outer_knuckle.dae" scale="0.001 0.001 0.001" />
            </geometry>
            <material name="">
                <color rgba="0.792156862745098 0.819607843137255 0.933333333333333 1" />
            </material>
        </visual>
        <collision>
            <origin rpy="0 0 0" xyz="0 0 0" />
            <geometry>
                <mesh filename="package://robotiq_2f_85_gripper_visualization/meshes/collision/robotiq_arg2f_85_outer_knuckle.dae" scale="0.001 0.001 0.001" />
            </geometry>
        </collision>
    </link>
    <link name="Link4_left_outer_finger">
        <inertial>
            <origin rpy="0 0 0" xyz="0.00030115855001899 0.0373907951953854 -0.0208027427000385" />
            <mass value="0.022614240507152" />
            <inertia ixx="1.52518312458174E-05" ixy="9.76583423954399E-10" ixz="-5.43838577022588E-10" iyy="6.17694243867776E-06" iyz="6.78636130740228E-06" izz="1.16494917907219E-05" />
        </inertial>
        <visual>
            <origin rpy="0 0 0" xyz="0 0 0" />
            <geometry>
                <mesh filename="package://robotiq_2f_85_gripper_visualization/meshes/visual/robotiq_arg2f_85_outer_finger.dae" scale="0.001 0.001 0.001" />
            </geometry>
            <material name="">
                <color rgba="0.1 0.1 0.1 1" />
            </material>
        </visual>
        <collision>
            <origin rpy="0 0 0" xyz="0 0 0" />
            <geometry>
                <mesh filename="package://robotiq_2f_85_gripper_visualization/meshes/collision/robotiq_arg2f_85_outer_finger.dae" scale="0.001 0.001 0.001" />
            </geometry>
        </collision>
    </link>
    <link name="Link4_left_inner_finger">
        <inertial>
            <origin rpy="0 0 0" xyz="0.000299999999999317 0.0160078233491243 -0.0136945669206257" />
            <mass value="0.0104003125914103" />
            <inertia ixx="2.71909453810972E-06" ixy="1.35402465472579E-21" ixz="-7.1817349065269E-22" iyy="7.69100314106116E-07" iyz="6.74715432769696E-07" izz="2.30315190420171E-06" />
        </inertial>
        <visual>
            <origin rpy="0 0 0" xyz="0 0 0" />
            <geometry>
                <mesh filename="package://robotiq_2f_85_gripper_visualization/meshes/visual/robotiq_arg2f_85_inner_finger.dae" scale="0.001 0.001 0.001" />
            </geometry>
            <material name="">
                <color rgba="0.1 0.1 0.1 1" />
            </material>
        </visual>
        <collision>
            <origin rpy="0 0 0" xyz="0 0 0" />
            <geometry>
                <mesh filename="package://robotiq_2f_85_gripper_visualization/meshes/collision/robotiq_arg2f_85_inner_finger.dae" scale="0.001 0.001 0.001" />
            </geometry>
        </collision>
    </link>
    <link name="Link4_left_inner_finger_pad">
        <visual>
            <origin rpy="0 0 0" xyz="0 0 0" />
            <geometry>
                <box size="0.022 0.00635 0.0375" />
            </geometry>
            <material name="">
                <color rgba="0.9 0.9 0.9 1" />
            </material>
        </visual>
        <collision>
            <origin rpy="0 0 0" xyz="0 0 0" />
            <geometry>
                <box size="0.022 0.00635 0.0375" />
            </geometry>
            <material name="">
                <color rgba="0.9 0.0 0.0 1" />
            </material>
        </collision>
        <inertial>
            <mass value="0.1" />
            <origin xyz="0 0 0" rpy="0 0 0" />
            <inertia ixx="0.03" iyy="0.03" izz="0.03" ixy="0.0" ixz="0.0" iyz="0.0" />
        </inertial>
    </link>
    <link name="Link4_left_inner_knuckle">
        <inertial>
            <origin rpy="0 0 0" xyz="0.000123011831763771 0.0507850843201817 0.00103968640075166" />
            <mass value="0.0271177346495152" />
            <inertia ixx="2.61910379223783E-05" ixy="-2.43616858946494E-07" ixz="-6.37789906117123E-09" iyy="2.8270243746167E-06" iyz="-5.37200748039765E-07" izz="2.83695868220296E-05" />
        </inertial>
        <visual>
            <origin rpy="0 0 0" xyz="0 0 0" />
            <geometry>
                <mesh filename="package://robotiq_2f_85_gripper_visualization/meshes/visual/robotiq_arg2f_85_inner_knuckle.dae" scale="0.001 0.001 0.001" />
            </geometry>
            <material name="">
                <color rgba="0.1 0.1 0.1 1" />
            </material>
        </visual>
        <collision>
            <origin rpy="0 0 0" xyz="0 0 0" />
            <geometry>
                <mesh filename="package://robotiq_2f_85_gripper_visualization/meshes/collision/robotiq_arg2f_85_inner_knuckle.dae" scale="0.001 0.001 0.001" />
            </geometry>
        </collision>
    </link>
    <joint name="Link4_left_outer_finger_joint" type="fixed">
        <origin rpy="0 0 0" xyz="0 0.0315 -0.0041" />
        <parent link="Link4_left_outer_knuckle" />
        <child link="Link4_left_outer_finger" />
        <axis xyz="1 0 0" />
    </joint>
    <joint name="Link4_left_inner_knuckle_joint" type="revolute">
        <!-- <origin xyz="0 ${reflect * -0.0127} 0.06142" rpy="${pi / 2 + .725} 0 ${(reflect - 1) * pi / 2}" /> -->
        <origin rpy="0 0 3.141592653589793" xyz="0 -0.0127 0.06142" />
        <parent link="Link4_robotiq_arg2f_base_link" />
        <child link="Link4_left_inner_knuckle" />
        <axis xyz="1 0 0" />
        <limit effort="1000" lower="0" upper="0.8757" velocity="0.5" />
        <mimic joint="Link4_finger_joint" multiplier="1" offset="0" />
    </joint>
    <joint name="Link4_left_inner_finger_joint" type="revolute">
        <origin rpy="0 0 0" xyz="0 0.0061 0.0471" />
        <parent link="Link4_left_outer_finger" />
        <child link="Link4_left_inner_finger" />
        <axis xyz="1 0 0" />
        <limit effort="1000" lower="-0.8757" upper="0" velocity="0.5" />
        <mimic joint="Link4_finger_joint" multiplier="-1" offset="0" />
    </joint>
    <joint name="Link4_left_inner_finger_pad_joint" type="fixed">
        <origin rpy="0 0 0" xyz="0 -0.0220203446692936 0.03242" />
        <parent link="Link4_left_inner_finger" />
        <child link="Link4_left_inner_finger_pad" />
        <axis xyz="0 0 1" />
    </joint>
    <joint name="Link4_finger_joint" type="revolute">
        <origin rpy="0 0 3.141592653589793" xyz="0 -0.0306011 0.054904" />
        <parent link="Link4_robotiq_arg2f_base_link" />
        <child link="Link4_left_outer_knuckle" />
        <axis xyz="1 0 0" />
        <limit effort="1000" lower="0" upper="0.8" velocity="0.5" />
    </joint>
    <joint name="Link4_right_outer_finger_joint" type="fixed">
        <origin rpy="0 0 0" xyz="0 0.0315 -0.0041" />
        <parent link="Link4_right_outer_knuckle" />
        <child link="Link4_right_outer_finger" />
        <axis xyz="1 0 0" />
    </joint>
    <joint name="Link4_right_inner_knuckle_joint" type="revolute">
        <!-- <origin xyz="0 ${reflect * -0.0127} 0.06142" rpy="${pi / 2 + .725} 0 ${(reflect - 1) * pi / 2}" /> -->
        <origin rpy="0 0 0.0" xyz="0 0.0127 0.06142" />
        <parent link="Link4_robotiq_arg2f_base_link" />
        <child link="Link4_right_inner_knuckle" />
        <axis xyz="1 0 0" />
        <limit effort="1000" lower="0" upper="0.8757" velocity="0.5" />
        <mimic joint="Link4_finger_joint" multiplier="1" offset="0" />
    </joint>
    <joint name="Link4_right_inner_finger_joint" type="revolute">
        <origin rpy="0 0 0" xyz="0 0.0061 0.0471" />
        <parent link="Link4_right_outer_finger" />
        <child link="Link4_right_inner_finger" />
        <axis xyz="1 0 0" />
        <limit effort="1000" lower="-0.8757" upper="0" velocity="0.5" />
        <mimic joint="Link4_finger_joint" multiplier="-1" offset="0" />
    </joint>
    <joint name="Link4_right_inner_finger_pad_joint" type="fixed">
        <origin rpy="0 0 0" xyz="0 -0.0220203446692936 0.03242" />
        <parent link="Link4_right_inner_finger" />
        <child link="Link4_right_inner_finger_pad" />
        <axis xyz="0 0 1" />
    </joint>
    <link name="Link4_right_outer_knuckle">
        <inertial>
            <origin rpy="0 0 0" xyz="-0.000200000000003065 0.0199435877845359 0.0292245259211331" />
            <mass value="0.00853198276973456" />
            <inertia ixx="2.89328108496468E-06" ixy="-1.57935047237397E-19" ixz="-1.93980378593255E-19" iyy="1.86719750325683E-06" iyz="-1.21858577871576E-06" izz="1.21905238907251E-06" />
        </inertial>
        <visual>
            <origin rpy="0 0 0" xyz="0 0 0" />
            <geometry>
                <mesh filename="package://robotiq_2f_85_gripper_visualization/meshes/visual/robotiq_arg2f_85_outer_knuckle.dae" scale="0.001 0.001 0.001" />
            </geometry>
            <material name="">
                <color rgba="0.792156862745098 0.819607843137255 0.933333333333333 1" />
            </material>
        </visual>
        <collision>
            <origin rpy="0 0 0" xyz="0 0 0" />
            <geometry>
                <mesh filename="package://robotiq_2f_85_gripper_visualization/meshes/collision/robotiq_arg2f_85_outer_knuckle.dae" scale="0.001 0.001 0.001" />
            </geometry>
        </collision>
    </link>
    <link name="Link4_right_outer_finger">
        <inertial>
            <origin rpy="0 0 0" xyz="0.00030115855001899 0.0373907951953854 -0.0208027427000385" />
            <mass value="0.022614240507152" />
            <inertia ixx="1.52518312458174E-05" ixy="9.76583423954399E-10" ixz="-5.43838577022588E-10" iyy="6.17694243867776E-06" iyz="6.78636130740228E-06" izz="1.16494917907219E-05" />
        </inertial>
        <visual>
            <origin rpy="0 0 0" xyz="0 0 0" />
            <geometry>
                <mesh filename="package://robotiq_2f_85_gripper_visualization/meshes/visual/robotiq_arg2f_85_outer_finger.dae" scale="0.001 0.001 0.001" />
            </geometry>
            <material name="">
                <color rgba="0.1 0.1 0.1 1" />
            </material>
        </visual>
        <collision>
            <origin rpy="0 0 0" xyz="0 0 0" />
            <geometry>
                <mesh filename="package://robotiq_2f_85_gripper_visualization/meshes/collision/robotiq_arg2f_85_outer_finger.dae" scale="0.001 0.001 0.001" />
            </geometry>
        </collision>
    </link>
    <link name="Link4_right_inner_finger">
        <inertial>
            <origin rpy="0 0 0" xyz="0.000299999999999317 0.0160078233491243 -0.0136945669206257" />
            <mass value="0.0104003125914103" />
            <inertia ixx="2.71909453810972E-06" ixy="1.35402465472579E-21" ixz="-7.1817349065269E-22" iyy="7.69100314106116E-07" iyz="6.74715432769696E-07" izz="2.30315190420171E-06" />
        </inertial>
        <visual>
            <origin rpy="0 0 0" xyz="0 0 0" />
            <geometry>
                <mesh filename="package://robotiq_2f_85_gripper_visualization/meshes/visual/robotiq_arg2f_85_inner_finger.dae" scale="0.001 0.001 0.001" />
            </geometry>
            <material name="">
                <color rgba="0.1 0.1 0.1 1" />
            </material>
        </visual>
        <collision>
            <origin rpy="0 0 0" xyz="0 0 0" />
            <geometry>
                <mesh filename="package://robotiq_2f_85_gripper_visualization/meshes/collision/robotiq_arg2f_85_inner_finger.dae" scale="0.001 0.001 0.001" />
            </geometry>
        </collision>
    </link>
    <link name="Link4_right_inner_finger_pad">
        <visual>
            <origin rpy="0 0 0" xyz="0 0 0" />
            <geometry>
                <box size="0.022 0.00635 0.0375" />
            </geometry>
            <material name="">
                <color rgba="0.9 0.9 0.9 1" />
            </material>
        </visual>
        <collision>
            <origin rpy="0 0 0" xyz="0 0 0" />
            <geometry>
                <box size="0.022 0.00635 0.0375" />
            </geometry>
            <material name="">
                <color rgba="0.9 0.0 0.0 1" />
            </material>
        </collision>
        <inertial>
            <mass value="0.1" />
            <origin xyz="0 0 0" rpy="0 0 0" />
            <inertia ixx="0.03" iyy="0.03" izz="0.03" ixy="0.0" ixz="0.0" iyz="0.0" />
        </inertial>
    </link>
    <link name="Link4_right_inner_knuckle">
        <inertial>
            <origin rpy="0 0 0" xyz="0.000123011831763771 0.0507850843201817 0.00103968640075166" />
            <mass value="0.0271177346495152" />
            <inertia ixx="2.61910379223783E-05" ixy="-2.43616858946494E-07" ixz="-6.37789906117123E-09" iyy="2.8270243746167E-06" iyz="-5.37200748039765E-07" izz="2.83695868220296E-05" />
        </inertial>
        <visual>
            <origin rpy="0 0 0" xyz="0 0 0" />
            <geometry>
                <mesh filename="package://robotiq_2f_85_gripper_visualization/meshes/visual/robotiq_arg2f_85_inner_knuckle.dae" scale="0.001 0.001 0.001" />
            </geometry>
            <material name="">
                <color rgba="0.1 0.1 0.1 1" />
            </material>
        </visual>
        <collision>
            <origin rpy="0 0 0" xyz="0 0 0" />
            <geometry>
                <mesh filename="package://robotiq_2f_85_gripper_visualization/meshes/collision/robotiq_arg2f_85_inner_knuckle.dae" scale="0.001 0.001 0.001" />
            </geometry>
        </collision>
    </link>
    <joint name="Link4_right_finger_joint" type="revolute">
        <origin rpy="0 0 0" xyz="0 0.0306011 0.054904" />
        <parent link="Link4_robotiq_arg2f_base_link" />
        <child link="Link4_right_outer_knuckle" />
        <axis xyz="1 0 0" />
        <limit effort="1000" lower="0" upper="0.81" velocity="0.5" />
        <mimic joint="Link4_finger_joint" multiplier="1" offset="0" />
    </joint>
    <link name="Link1_platlink">
        <inertial>
            <origin rpy="0 0 0" xyz="0.02891563 -0.01184461 0.0004999" />
            <mass value="0.0110" />
            <inertia ixx="2.3755012E-06" ixy="4.9413420E-06" ixz="0" iyy="1.2414435E-05" iyz="0" izz="1.46210848E-05" />
        </inertial>
        <visual>
            <origin rpy="0 0 0" xyz="0 0 0" />
            <geometry>
                <mesh filename="package://robot_description/meshes/Link_platlink.STL" />
            </geometry>
            <material name="">
                <color rgba="1 1 1 1" />
            </material>
        </visual>
        <collision>
            <origin rpy="0 0 0" xyz="0 0 0" />
            <geometry>
                <mesh filename="package://robot_description/meshes/Link_platlink.STL" />
            </geometry>
        </collision>
    </link>
    <joint name="Joint1_platlink" type="revolute">
        <origin rpy="1.5707963267948966 0 0.7853981633974483" xyz="0.056569 0.056569 0" />
        <parent link="Link_platform" />
        <child link="Link1_platlink" />
        <axis xyz="0 0 1" />
        <dynamics damping="0.1" friction="0.8" />
        <limit effort="1000" lower="-1.5707963267948966" upper="0" velocity="10" />
    </joint>
    <link name="Link2_platlink">
        <inertial>
            <origin rpy="0 0 0" xyz="0.02891563 -0.01184461 0.0004999" />
            <mass value="0.0110" />
            <inertia ixx="2.3755012E-06" ixy="4.9413420E-06" ixz="0" iyy="1.2414435E-05" iyz="0" izz="1.46210848E-05" />
        </inertial>
        <visual>
            <origin rpy="0 0 0" xyz="0 0 0" />
            <geometry>
                <mesh filename="package://robot_description/meshes/Link_platlink.STL" />
            </geometry>
            <material name="">
                <color rgba="1 1 1 1" />
            </material>
        </visual>
        <collision>
            <origin rpy="0 0 0" xyz="0 0 0" />
            <geometry>
                <mesh filename="package://robot_description/meshes/Link_platlink.STL" />
            </geometry>
        </collision>
    </link>
    <joint name="Joint2_platlink" type="revolute">
        <origin rpy="1.5707963267948966 0 2.356194490192345" xyz="-0.056569 0.056569 0" />
        <parent link="Link_platform" />
        <child link="Link2_platlink" />
        <axis xyz="0 0 1" />
        <dynamics damping="0.1" friction="0.8" />
        <limit effort="1000" lower="-1.5707963267948966" upper="0" velocity="10" />
    </joint>
    <link name="Link3_platlink">
        <inertial>
            <origin rpy="0 0 0" xyz="0.02891563 -0.01184461 0.0004999" />
            <mass value="0.0110" />
            <inertia ixx="2.3755012E-06" ixy="4.9413420E-06" ixz="0" iyy="1.2414435E-05" iyz="0" izz="1.46210848E-05" />
        </inertial>
        <visual>
            <origin rpy="0 0 0" xyz="0 0 0" />
            <geometry>
                <mesh filename="package://robot_description/meshes/Link_platlink.STL" />
            </geometry>
            <material name="">
                <color rgba="1 1 1 1" />
            </material>
        </visual>
        <collision>
            <origin rpy="0 0 0" xyz="0 0 0" />
            <geometry>
                <mesh filename="package://robot_description/meshes/Link_platlink.STL" />
            </geometry>
        </collision>
    </link>
    <joint name="Joint3_platlink" type="revolute">
        <origin rpy="1.5707963267948966 0 3.9269908169872414" xyz="-0.056569 -0.056569 0" />
        <parent link="Link_platform" />
        <child link="Link3_platlink" />
        <axis xyz="0 0 1" />
        <dynamics damping="0.1" friction="0.8" />
        <limit effort="1000" lower="-1.5707963267948966" upper="0" velocity="10" />
    </joint>
    <link name="Link4_platlink">
        <inertial>
            <origin rpy="0 0 0" xyz="0.02891563 -0.01184461 0.0004999" />
            <mass value="0.0110" />
            <inertia ixx="2.3755012E-06" ixy="4.9413420E-06" ixz="0" iyy="1.2414435E-05" iyz="0" izz="1.46210848E-05" />
        </inertial>
        <visual>
            <origin rpy="0 0 0" xyz="0 0 0" />
            <geometry>
                <mesh filename="package://robot_description/meshes/Link_platlink.STL" />
            </geometry>
            <material name="">
                <color rgba="1 1 1 1" />
            </material>
        </visual>
        <collision>
            <origin rpy="0 0 0" xyz="0 0 0" />
            <geometry>
                <mesh filename="package://robot_description/meshes/Link_platlink.STL" />
            </geometry>
        </collision>
    </link>
    <joint name="Joint4_platlink" type="revolute">
        <origin rpy="1.5707963267948966 0 5.497787143782138" xyz="0.056569 -0.056569 0" />
        <parent link="Link_platform" />
        <child link="Link4_platlink" />
        <axis xyz="0 0 1" />
        <dynamics damping="0.1" friction="0.8" />
        <limit effort="1000" lower="-1.5707963267948966" upper="0" velocity="10" />
    </joint>
    <transmission name="trans_Joint_platform">
        <type>transmission_interface/SimpleTransmission</type>
        <joint name="Joint_platform">
            <hardwareInterface>hardware_interface/EffortJointInterface</hardwareInterface>
        </joint>
        <actuator name="Joint_platform_motor">
            <hardwareInterface>hardware_interface/EffortJointInterface</hardwareInterface>
            <mechanicalReduction>1</mechanicalReduction>
        </actuator>
    </transmission>
    <transmission name="trans_Joint1_0">
        <type>transmission_interface/SimpleTransmission</type>
        <joint name="Joint1_0">
            <hardwareInterface>hardware_interface/EffortJointInterface</hardwareInterface>
        </joint>
        <actuator name="Joint1_0_motor">
            <hardwareInterface>hardware_interface/EffortJointInterface</hardwareInterface>
            <mechanicalReduction>1</mechanicalReduction>
        </actuator>
    </transmission>
    <transmission name="trans_Joint1_1">
        <type>transmission_interface/SimpleTransmission</type>
        <joint name="Joint1_1">
            <hardwareInterface>hardware_interface/EffortJointInterface</hardwareInterface>
        </joint>
        <actuator name="Joint1_1_motor">
            <hardwareInterface>hardware_interface/EffortJointInterface</hardwareInterface>
            <mechanicalReduction>1</mechanicalReduction>
        </actuator>
    </transmission>
    <transmission name="trans_Joint1_2">
        <type>transmission_interface/SimpleTransmission</type>
        <joint name="Joint1_2">
            <hardwareInterface>hardware_interface/EffortJointInterface</hardwareInterface>
        </joint>
        <actuator name="Joint1_2_motor">
            <hardwareInterface>hardware_interface/EffortJointInterface</hardwareInterface>
            <mechanicalReduction>1</mechanicalReduction>
        </actuator>
    </transmission>
    <transmission name="trans_Joint1_3">
        <type>transmission_interface/SimpleTransmission</type>
        <joint name="Joint1_3">
            <hardwareInterface>hardware_interface/EffortJointInterface</hardwareInterface>
        </joint>
        <actuator name="Joint1_3_motor">
            <hardwareInterface>hardware_interface/EffortJointInterface</hardwareInterface>
            <mechanicalReduction>1</mechanicalReduction>
        </actuator>
    </transmission>
    <transmission name="trans_Joint1_4">
        <type>transmission_interface/SimpleTransmission</type>
        <joint name="Joint1_4">
            <hardwareInterface>hardware_interface/EffortJointInterface</hardwareInterface>
        </joint>
        <actuator name="Joint1_4_motor">
            <hardwareInterface>hardware_interface/EffortJointInterface</hardwareInterface>
            <mechanicalReduction>1</mechanicalReduction>
        </actuator>
    </transmission>
    <transmission name="trans_Joint1_5">
        <type>transmission_interface/SimpleTransmission</type>
        <joint name="Joint1_5">
            <hardwareInterface>hardware_interface/EffortJointInterface</hardwareInterface>
        </joint>
        <actuator name="Joint1_5_motor">
            <hardwareInterface>hardware_interface/EffortJointInterface</hardwareInterface>
            <mechanicalReduction>1</mechanicalReduction>
        </actuator>
    </transmission>
    <transmission name="trans_Joint1_6">
        <type>transmission_interface/SimpleTransmission</type>
        <joint name="Joint1_6">
            <hardwareInterface>hardware_interface/EffortJointInterface</hardwareInterface>
        </joint>
        <actuator name="Joint1_6_motor">
            <hardwareInterface>hardware_interface/EffortJointInterface</hardwareInterface>
            <mechanicalReduction>1</mechanicalReduction>
        </actuator>
    </transmission>
    <transmission name="trans_Link1_left_inner_knuckle_joint">
        <type>transmission_interface/SimpleTransmission</type>
        <joint name="Link1_left_inner_knuckle_joint">
            <hardwareInterface>hardware_interface/EffortJointInterface</hardwareInterface>
        </joint>
        <actuator name="Link1_left_inner_knuckle_joint_motor">
            <hardwareInterface>hardware_interface/EffortJointInterface</hardwareInterface>
            <mechanicalReduction>1</mechanicalReduction>
        </actuator>
    </transmission>
    <transmission name="trans_Link1_left_inner_finger_joint">
        <type>transmission_interface/SimpleTransmission</type>
        <joint name="Link1_left_inner_finger_joint">
            <hardwareInterface>hardware_interface/EffortJointInterface</hardwareInterface>
        </joint>
        <actuator name="Link1_left_inner_finger_joint_motor">
            <hardwareInterface>hardware_interface/EffortJointInterface</hardwareInterface>
            <mechanicalReduction>1</mechanicalReduction>
        </actuator>
    </transmission>
    <transmission name="trans_Link1_right_inner_knuckle_joint">
        <type>transmission_interface/SimpleTransmission</type>
        <joint name="Link1_right_inner_knuckle_joint">
            <hardwareInterface>hardware_interface/EffortJointInterface</hardwareInterface>
        </joint>
        <actuator name="Link1_right_inner_knuckle_joint_motor">
            <hardwareInterface>hardware_interface/EffortJointInterface</hardwareInterface>
            <mechanicalReduction>1</mechanicalReduction>
        </actuator>
    </transmission>
    <transmission name="trans_Link1_right_inner_finger_joint">
        <type>transmission_interface/SimpleTransmission</type>
        <joint name="Link1_right_inner_finger_joint">
            <hardwareInterface>hardware_interface/EffortJointInterface</hardwareInterface>
        </joint>
        <actuator name="Link1_right_inner_finger_joint_motor">
            <hardwareInterface>hardware_interface/EffortJointInterface</hardwareInterface>
            <mechanicalReduction>1</mechanicalReduction>
        </actuator>
    </transmission>
    <transmission name="trans_Link1_right_finger_joint">
        <type>transmission_interface/SimpleTransmission</type>
        <joint name="Link1_right_finger_joint">
            <hardwareInterface>hardware_interface/EffortJointInterface</hardwareInterface>
        </joint>
        <actuator name="Link1_right_finger_joint_motor">
            <hardwareInterface>hardware_interface/EffortJointInterface</hardwareInterface>
            <mechanicalReduction>1</mechanicalReduction>
        </actuator>
    </transmission>
    <transmission name="trans_Joint2_0">
        <type>transmission_interface/SimpleTransmission</type>
        <joint name="Joint2_0">
            <hardwareInterface>hardware_interface/EffortJointInterface</hardwareInterface>
        </joint>
        <actuator name="Joint2_0_motor">
            <hardwareInterface>hardware_interface/EffortJointInterface</hardwareInterface>
            <mechanicalReduction>1</mechanicalReduction>
        </actuator>
    </transmission>
    <transmission name="trans_Joint2_1">
        <type>transmission_interface/SimpleTransmission</type>
        <joint name="Joint2_1">
            <hardwareInterface>hardware_interface/EffortJointInterface</hardwareInterface>
        </joint>
        <actuator name="Joint2_1_motor">
            <hardwareInterface>hardware_interface/EffortJointInterface</hardwareInterface>
            <mechanicalReduction>1</mechanicalReduction>
        </actuator>
    </transmission>
    <transmission name="trans_Joint2_2">
        <type>transmission_interface/SimpleTransmission</type>
        <joint name="Joint2_2">
            <hardwareInterface>hardware_interface/EffortJointInterface</hardwareInterface>
        </joint>
        <actuator name="Joint2_2_motor">
            <hardwareInterface>hardware_interface/EffortJointInterface</hardwareInterface>
            <mechanicalReduction>1</mechanicalReduction>
        </actuator>
    </transmission>
    <transmission name="trans_Joint2_3">
        <type>transmission_interface/SimpleTransmission</type>
        <joint name="Joint2_3">
            <hardwareInterface>hardware_interface/EffortJointInterface</hardwareInterface>
        </joint>
        <actuator name="Joint2_3_motor">
            <hardwareInterface>hardware_interface/EffortJointInterface</hardwareInterface>
            <mechanicalReduction>1</mechanicalReduction>
        </actuator>
    </transmission>
    <transmission name="trans_Joint2_4">
        <type>transmission_interface/SimpleTransmission</type>
        <joint name="Joint2_4">
            <hardwareInterface>hardware_interface/EffortJointInterface</hardwareInterface>
        </joint>
        <actuator name="Joint2_4_motor">
            <hardwareInterface>hardware_interface/EffortJointInterface</hardwareInterface>
            <mechanicalReduction>1</mechanicalReduction>
        </actuator>
    </transmission>
    <transmission name="trans_Joint2_5">
        <type>transmission_interface/SimpleTransmission</type>
        <joint name="Joint2_5">
            <hardwareInterface>hardware_interface/EffortJointInterface</hardwareInterface>
        </joint>
        <actuator name="Joint2_5_motor">
            <hardwareInterface>hardware_interface/EffortJointInterface</hardwareInterface>
            <mechanicalReduction>1</mechanicalReduction>
        </actuator>
    </transmission>
    <transmission name="trans_Joint2_6">
        <type>transmission_interface/SimpleTransmission</type>
        <joint name="Joint2_6">
            <hardwareInterface>hardware_interface/EffortJointInterface</hardwareInterface>
        </joint>
        <actuator name="Joint2_6_motor">
            <hardwareInterface>hardware_interface/EffortJointInterface</hardwareInterface>
            <mechanicalReduction>1</mechanicalReduction>
        </actuator>
    </transmission>
    <transmission name="trans_Link2_left_inner_knuckle_joint">
        <type>transmission_interface/SimpleTransmission</type>
        <joint name="Link2_left_inner_knuckle_joint">
            <hardwareInterface>hardware_interface/EffortJointInterface</hardwareInterface>
        </joint>
        <actuator name="Link2_left_inner_knuckle_joint_motor">
            <hardwareInterface>hardware_interface/EffortJointInterface</hardwareInterface>
            <mechanicalReduction>1</mechanicalReduction>
        </actuator>
    </transmission>
    <transmission name="trans_Link2_left_inner_finger_joint">
        <type>transmission_interface/SimpleTransmission</type>
        <joint name="Link2_left_inner_finger_joint">
            <hardwareInterface>hardware_interface/EffortJointInterface</hardwareInterface>
        </joint>
        <actuator name="Link2_left_inner_finger_joint_motor">
            <hardwareInterface>hardware_interface/EffortJointInterface</hardwareInterface>
            <mechanicalReduction>1</mechanicalReduction>
        </actuator>
    </transmission>
    <transmission name="trans_Link2_right_inner_knuckle_joint">
        <type>transmission_interface/SimpleTransmission</type>
        <joint name="Link2_right_inner_knuckle_joint">
            <hardwareInterface>hardware_interface/EffortJointInterface</hardwareInterface>
        </joint>
        <actuator name="Link2_right_inner_knuckle_joint_motor">
            <hardwareInterface>hardware_interface/EffortJointInterface</hardwareInterface>
            <mechanicalReduction>1</mechanicalReduction>
        </actuator>
    </transmission>
    <transmission name="trans_Link2_right_inner_finger_joint">
        <type>transmission_interface/SimpleTransmission</type>
        <joint name="Link2_right_inner_finger_joint">
            <hardwareInterface>hardware_interface/EffortJointInterface</hardwareInterface>
        </joint>
        <actuator name="Link2_right_inner_finger_joint_motor">
            <hardwareInterface>hardware_interface/EffortJointInterface</hardwareInterface>
            <mechanicalReduction>1</mechanicalReduction>
        </actuator>
    </transmission>
    <transmission name="trans_Link2_right_finger_joint">
        <type>transmission_interface/SimpleTransmission</type>
        <joint name="Link2_right_finger_joint">
            <hardwareInterface>hardware_interface/EffortJointInterface</hardwareInterface>
        </joint>
        <actuator name="Link2_right_finger_joint_motor">
            <hardwareInterface>hardware_interface/EffortJointInterface</hardwareInterface>
            <mechanicalReduction>1</mechanicalReduction>
        </actuator>
    </transmission>
    <transmission name="trans_Joint3_0">
        <type>transmission_interface/SimpleTransmission</type>
        <joint name="Joint3_0">
            <hardwareInterface>hardware_interface/EffortJointInterface</hardwareInterface>
        </joint>
        <actuator name="Joint3_0_motor">
            <hardwareInterface>hardware_interface/EffortJointInterface</hardwareInterface>
            <mechanicalReduction>1</mechanicalReduction>
        </actuator>
    </transmission>
    <transmission name="trans_Joint3_1">
        <type>transmission_interface/SimpleTransmission</type>
        <joint name="Joint3_1">
            <hardwareInterface>hardware_interface/EffortJointInterface</hardwareInterface>
        </joint>
        <actuator name="Joint3_1_motor">
            <hardwareInterface>hardware_interface/EffortJointInterface</hardwareInterface>
            <mechanicalReduction>1</mechanicalReduction>
        </actuator>
    </transmission>
    <transmission name="trans_Joint3_2">
        <type>transmission_interface/SimpleTransmission</type>
        <joint name="Joint3_2">
            <hardwareInterface>hardware_interface/EffortJointInterface</hardwareInterface>
        </joint>
        <actuator name="Joint3_2_motor">
            <hardwareInterface>hardware_interface/EffortJointInterface</hardwareInterface>
            <mechanicalReduction>1</mechanicalReduction>
        </actuator>
    </transmission>
    <transmission name="trans_Joint3_3">
        <type>transmission_interface/SimpleTransmission</type>
        <joint name="Joint3_3">
            <hardwareInterface>hardware_interface/EffortJointInterface</hardwareInterface>
        </joint>
        <actuator name="Joint3_3_motor">
            <hardwareInterface>hardware_interface/EffortJointInterface</hardwareInterface>
            <mechanicalReduction>1</mechanicalReduction>
        </actuator>
    </transmission>
    <transmission name="trans_Joint3_4">
        <type>transmission_interface/SimpleTransmission</type>
        <joint name="Joint3_4">
            <hardwareInterface>hardware_interface/EffortJointInterface</hardwareInterface>
        </joint>
        <actuator name="Joint3_4_motor">
            <hardwareInterface>hardware_interface/EffortJointInterface</hardwareInterface>
            <mechanicalReduction>1</mechanicalReduction>
        </actuator>
    </transmission>
    <transmission name="trans_Joint3_5">
        <type>transmission_interface/SimpleTransmission</type>
        <joint name="Joint3_5">
            <hardwareInterface>hardware_interface/EffortJointInterface</hardwareInterface>
        </joint>
        <actuator name="Joint3_5_motor">
            <hardwareInterface>hardware_interface/EffortJointInterface</hardwareInterface>
            <mechanicalReduction>1</mechanicalReduction>
        </actuator>
    </transmission>
    <transmission name="trans_Joint3_6">
        <type>transmission_interface/SimpleTransmission</type>
        <joint name="Joint3_6">
            <hardwareInterface>hardware_interface/EffortJointInterface</hardwareInterface>
        </joint>
        <actuator name="Joint3_6_motor">
            <hardwareInterface>hardware_interface/EffortJointInterface</hardwareInterface>
            <mechanicalReduction>1</mechanicalReduction>
        </actuator>
    </transmission>
    <transmission name="trans_Link3_left_inner_knuckle_joint">
        <type>transmission_interface/SimpleTransmission</type>
        <joint name="Link3_left_inner_knuckle_joint">
            <hardwareInterface>hardware_interface/EffortJointInterface</hardwareInterface>
        </joint>
        <actuator name="Link3_left_inner_knuckle_joint_motor">
            <hardwareInterface>hardware_interface/EffortJointInterface</hardwareInterface>
            <mechanicalReduction>1</mechanicalReduction>
        </actuator>
    </transmission>
    <transmission name="trans_Link3_left_inner_finger_joint">
        <type>transmission_interface/SimpleTransmission</type>
        <joint name="Link3_left_inner_finger_joint">
            <hardwareInterface>hardware_interface/EffortJointInterface</hardwareInterface>
        </joint>
        <actuator name="Link3_left_inner_finger_joint_motor">
            <hardwareInterface>hardware_interface/EffortJointInterface</hardwareInterface>
            <mechanicalReduction>1</mechanicalReduction>
        </actuator>
    </transmission>
    <transmission name="trans_Link3_right_inner_knuckle_joint">
        <type>transmission_interface/SimpleTransmission</type>
        <joint name="Link3_right_inner_knuckle_joint">
            <hardwareInterface>hardware_interface/EffortJointInterface</hardwareInterface>
        </joint>
        <actuator name="Link3_right_inner_knuckle_joint_motor">
            <hardwareInterface>hardware_interface/EffortJointInterface</hardwareInterface>
            <mechanicalReduction>1</mechanicalReduction>
        </actuator>
    </transmission>
    <transmission name="trans_Link3_right_inner_finger_joint">
        <type>transmission_interface/SimpleTransmission</type>
        <joint name="Link3_right_inner_finger_joint">
            <hardwareInterface>hardware_interface/EffortJointInterface</hardwareInterface>
        </joint>
        <actuator name="Link3_right_inner_finger_joint_motor">
            <hardwareInterface>hardware_interface/EffortJointInterface</hardwareInterface>
            <mechanicalReduction>1</mechanicalReduction>
        </actuator>
    </transmission>
    <transmission name="trans_Link3_right_finger_joint">
        <type>transmission_interface/SimpleTransmission</type>
        <joint name="Link3_right_finger_joint">
            <hardwareInterface>hardware_interface/EffortJointInterface</hardwareInterface>
        </joint>
        <actuator name="Link3_right_finger_joint_motor">
            <hardwareInterface>hardware_interface/EffortJointInterface</hardwareInterface>
            <mechanicalReduction>1</mechanicalReduction>
        </actuator>
    </transmission>
    <transmission name="trans_Joint4_0">
        <type>transmission_interface/SimpleTransmission</type>
        <joint name="Joint4_0">
            <hardwareInterface>hardware_interface/EffortJointInterface</hardwareInterface>
        </joint>
        <actuator name="Joint4_0_motor">
            <hardwareInterface>hardware_interface/EffortJointInterface</hardwareInterface>
            <mechanicalReduction>1</mechanicalReduction>
        </actuator>
    </transmission>
    <transmission name="trans_Joint4_1">
        <type>transmission_interface/SimpleTransmission</type>
        <joint name="Joint4_1">
            <hardwareInterface>hardware_interface/EffortJointInterface</hardwareInterface>
        </joint>
        <actuator name="Joint4_1_motor">
            <hardwareInterface>hardware_interface/EffortJointInterface</hardwareInterface>
            <mechanicalReduction>1</mechanicalReduction>
        </actuator>
    </transmission>
    <transmission name="trans_Joint4_2">
        <type>transmission_interface/SimpleTransmission</type>
        <joint name="Joint4_2">
            <hardwareInterface>hardware_interface/EffortJointInterface</hardwareInterface>
        </joint>
        <actuator name="Joint4_2_motor">
            <hardwareInterface>hardware_interface/EffortJointInterface</hardwareInterface>
            <mechanicalReduction>1</mechanicalReduction>
        </actuator>
    </transmission>
    <transmission name="trans_Joint4_3">
        <type>transmission_interface/SimpleTransmission</type>
        <joint name="Joint4_3">
            <hardwareInterface>hardware_interface/EffortJointInterface</hardwareInterface>
        </joint>
        <actuator name="Joint4_3_motor">
            <hardwareInterface>hardware_interface/EffortJointInterface</hardwareInterface>
            <mechanicalReduction>1</mechanicalReduction>
        </actuator>
    </transmission>
    <transmission name="trans_Joint4_4">
        <type>transmission_interface/SimpleTransmission</type>
        <joint name="Joint4_4">
            <hardwareInterface>hardware_interface/EffortJointInterface</hardwareInterface>
        </joint>
        <actuator name="Joint4_4_motor">
            <hardwareInterface>hardware_interface/EffortJointInterface</hardwareInterface>
            <mechanicalReduction>1</mechanicalReduction>
        </actuator>
    </transmission>
    <transmission name="trans_Joint4_5">
        <type>transmission_interface/SimpleTransmission</type>
        <joint name="Joint4_5">
            <hardwareInterface>hardware_interface/EffortJointInterface</hardwareInterface>
        </joint>
        <actuator name="Joint4_5_motor">
            <hardwareInterface>hardware_interface/EffortJointInterface</hardwareInterface>
            <mechanicalReduction>1</mechanicalReduction>
        </actuator>
    </transmission>
    <transmission name="trans_Joint4_6">
        <type>transmission_interface/SimpleTransmission</type>
        <joint name="Joint4_6">
            <hardwareInterface>hardware_interface/EffortJointInterface</hardwareInterface>
        </joint>
        <actuator name="Joint4_6_motor">
            <hardwareInterface>hardware_interface/EffortJointInterface</hardwareInterface>
            <mechanicalReduction>1</mechanicalReduction>
        </actuator>
    </transmission>
    <transmission name="trans_Link4_left_inner_knuckle_joint">
        <type>transmission_interface/SimpleTransmission</type>
        <joint name="Link4_left_inner_knuckle_joint">
            <hardwareInterface>hardware_interface/EffortJointInterface</hardwareInterface>
        </joint>
        <actuator name="Link4_left_inner_knuckle_joint_motor">
            <hardwareInterface>hardware_interface/EffortJointInterface</hardwareInterface>
            <mechanicalReduction>1</mechanicalReduction>
        </actuator>
    </transmission>
    <transmission name="trans_Link4_left_inner_finger_joint">
        <type>transmission_interface/SimpleTransmission</type>
        <joint name="Link4_left_inner_finger_joint">
            <hardwareInterface>hardware_interface/EffortJointInterface</hardwareInterface>
        </joint>
        <actuator name="Link4_left_inner_finger_joint_motor">
            <hardwareInterface>hardware_interface/EffortJointInterface</hardwareInterface>
            <mechanicalReduction>1</mechanicalReduction>
        </actuator>
    </transmission>
    <transmission name="trans_Link4_right_inner_knuckle_joint">
        <type>transmission_interface/SimpleTransmission</type>
        <joint name="Link4_right_inner_knuckle_joint">
            <hardwareInterface>hardware_interface/EffortJointInterface</hardwareInterface>
        </joint>
        <actuator name="Link4_right_inner_knuckle_joint_motor">
            <hardwareInterface>hardware_interface/EffortJointInterface</hardwareInterface>
            <mechanicalReduction>1</mechanicalReduction>
        </actuator>
    </transmission>
    <transmission name="trans_Link4_right_inner_finger_joint">
        <type>transmission_interface/SimpleTransmission</type>
        <joint name="Link4_right_inner_finger_joint">
            <hardwareInterface>hardware_interface/EffortJointInterface</hardwareInterface>
        </joint>
        <actuator name="Link4_right_inner_finger_joint_motor">
            <hardwareInterface>hardware_interface/EffortJointInterface</hardwareInterface>
            <mechanicalReduction>1</mechanicalReduction>
        </actuator>
    </transmission>
    <transmission name="trans_Link4_right_finger_joint">
        <type>transmission_interface/SimpleTransmission</type>
        <joint name="Link4_right_finger_joint">
            <hardwareInterface>hardware_interface/EffortJointInterface</hardwareInterface>
        </joint>
        <actuator name="Link4_right_finger_joint_motor">
            <hardwareInterface>hardware_interface/EffortJointInterface</hardwareInterface>
            <mechanicalReduction>1</mechanicalReduction>
        </actuator>
    </transmission>
    <transmission name="trans_Joint1_platlink">
        <type>transmission_interface/SimpleTransmission</type>
        <joint name="Joint1_platlink">
            <hardwareInterface>hardware_interface/EffortJointInterface</hardwareInterface>
        </joint>
        <actuator name="Joint1_platlink_motor">
            <hardwareInterface>hardware_interface/EffortJointInterface</hardwareInterface>
            <mechanicalReduction>1</mechanicalReduction>
        </actuator>
    </transmission>
    <transmission name="trans_Joint2_platlink">
        <type>transmission_interface/SimpleTransmission</type>
        <joint name="Joint2_platlink">
            <hardwareInterface>hardware_interface/EffortJointInterface</hardwareInterface>
        </joint>
        <actuator name="Joint2_platlink_motor">
            <hardwareInterface>hardware_interface/EffortJointInterface</hardwareInterface>
            <mechanicalReduction>1</mechanicalReduction>
        </actuator>
    </transmission>
    <transmission name="trans_Joint3_platlink">
        <type>transmission_interface/SimpleTransmission</type>
        <joint name="Joint3_platlink">
            <hardwareInterface>hardware_interface/EffortJointInterface</hardwareInterface>
        </joint>
        <actuator name="Joint3_platlink_motor">
            <hardwareInterface>hardware_interface/EffortJointInterface</hardwareInterface>
            <mechanicalReduction>1</mechanicalReduction>
        </actuator>
    </transmission>
    <transmission name="trans_Joint4_platlink">
        <type>transmission_interface/SimpleTransmission</type>
        <joint name="Joint4_platlink">
            <hardwareInterface>hardware_interface/EffortJointInterface</hardwareInterface>
        </joint>
        <actuator name="Joint4_platlink_motor">
            <hardwareInterface>hardware_interface/EffortJointInterface</hardwareInterface>
            <mechanicalReduction>1</mechanicalReduction>
        </actuator>
    </transmission>
    <gazebo>
        <plugin name="gazebo_ros_control" filename="libgazebo_ros_control.so">
            <robotNamespace>/</robotNamespace>
        </plugin>
    </gazebo>
</robot>
